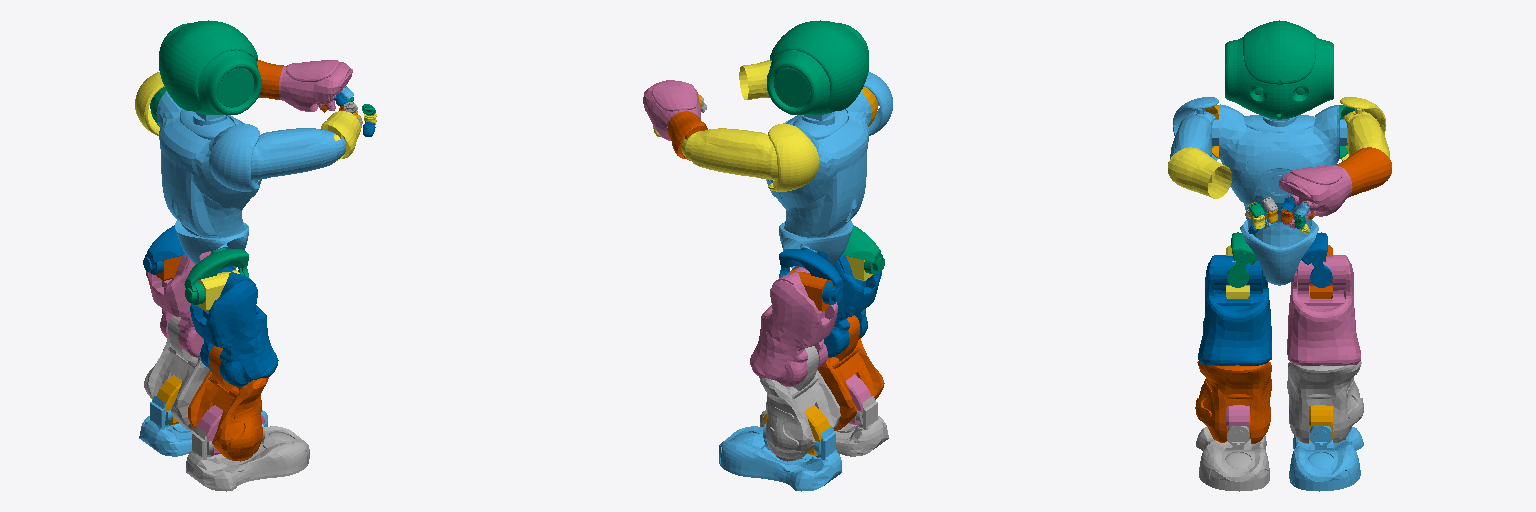
--- Facts derived from the render (not from the file) ---
The picture shows the robot from 3 angles, left to right: view 1: azimuth 30°, elevation 25°; view 2: azimuth 150°, elevation 25°; view 3: azimuth 270°, elevation 25°; orthographic projection.
Robot: naoH25V40 — 76 links, 75 joints (42 revolute, 33 fixed); root link base_link; default pose: joints at zero except 2 at the middle of their limits (LFinger1 = 0.7854, LFinger1_1 = 0.7854, LFinger1_2 = 0.7854, LFinger2 = 0.7854, LFinger2_1 = 0.7854, LFinger2_2 = 0.7854).
Visible links, largest first — view 1: torso, Head, RBicep, RThigh, r_sole, RTibia, l_wrist, LTibia, LThigh, l_sole, RPelvis, LPelvis (+6 smaller); view 2: torso, Head, LBicep, LThigh, l_sole, LTibia, RTibia, RThigh, l_wrist, r_sole, LPelvis, RPelvis (+6 smaller); view 3: torso, Head, LThigh, RThigh, RTibia, LTibia, l_sole, r_sole, l_wrist, RForeArm, LBicep, RBicep (+4 smaller).
Link boxes in pixels (x1,y1,x2,y2): torso: (156,91,261,268); Head: (159,20,261,114); RBicep: (209,124,345,191); RThigh: (190,266,278,386); r_sole: (186,424,309,491); RTibia: (188,346,268,461); l_wrist: (279,60,352,111); LTibia: (144,315,209,430); LThigh: (146,251,210,357); l_sole: (139,396,267,456); RPelvis: (184,248,249,304); LPelvis: (143,225,184,274); torso: (766,91,871,268); Head: (767,20,868,114); LBicep: (681,124,819,191); LThigh: (750,266,837,386); l_sole: (719,424,841,491); LTibia: (759,346,840,461); RTibia: (818,315,884,430); RThigh: (817,251,881,357); l_wrist: (643,80,700,140); r_sole: (760,396,888,456); LPelvis: (779,248,843,304); RPelvis: (843,225,884,274); torso: (1212,104,1347,285); Head: (1225,20,1333,119); LThigh: (1287,255,1360,365); RThigh: (1198,255,1271,365); RTibia: (1195,361,1271,443); LTibia: (1287,361,1363,443); l_sole: (1289,426,1363,491); r_sole: (1196,426,1269,491); l_wrist: (1279,165,1352,216); RForeArm: (1168,147,1231,198); LBicep: (1340,97,1389,160); RBicep: (1170,97,1218,160).
Bounding box of the posed robot: 0.2792 × 0.2719 × 0.5738 m (x, y, z).
38 mesh visuals loaded from 39 distinct referenced files (38 Collada DAE); not drawn: 1 (reference not matched to a file when rendering).

The robot description file, URDF, robot "naoH25V40":
<?xml version="1.0" ?>
<!-- =================================================================================== -->
<!-- |    This document was autogenerated by xacro from naorobot.xacro                 | -->
<!-- |    EDITING THIS FILE BY HAND IS NOT RECOMMENDED                                 | -->
<!-- =================================================================================== -->
<!-- *****************************************************************
 ****** File automatically generated by generate_urdf.py script ******
 ********************************************************************* -->
<robot name="naoH25V40" xmlns:xacro="http://www.ros.org/wiki/xacro">
  <transmission name="HeadYaw_Transmission">
    <type>transmission_interface/SimpleTransmission</type>
    <joint name="HeadYaw">
      <hardwareInterface>PositionJointInterface</hardwareInterface>
      <dynamics damping="0.1" friction="0" />
    </joint>

    <gazebo reference="HeadYaw">
      <implicitSpringDamper>1</implicitSpringDamper>
    </gazebo>

    <actuator name="HeadYaw_Motor">
      <!-- Dummy Values -->
      <hardwareInterface>PositionJointInterface</hardwareInterface>
      <mechanicalReduction>150.27</mechanicalReduction>
    </actuator>
  </transmission>
  <transmission name="HeadPitch_Transmission">
    <type>transmission_interface/SimpleTransmission</type>
    <joint name="HeadPitch">
      <hardwareInterface>PositionJointInterface</hardwareInterface>
      <dynamics damping="0.1" friction="0" />
    </joint>

    <gazebo reference="HeadPitch">
      <implicitSpringDamper>1</implicitSpringDamper>
    </gazebo>

    <actuator name="HeadPitch_Motor">
      <!-- Dummy Values -->
      <hardwareInterface>PositionJointInterface</hardwareInterface>
      <mechanicalReduction>173.22</mechanicalReduction>
    </actuator>
  </transmission>
  <transmission name="LShoulderPitch_Transmission">
    <type>transmission_interface/SimpleTransmission</type>
    <joint name="LShoulderPitch">
      <hardwareInterface>PositionJointInterface</hardwareInterface>
      <dynamics damping="0.1" friction="0" />
    </joint>

    <gazebo reference="LShoulderPitch">
      <implicitSpringDamper>1</implicitSpringDamper>
    </gazebo>

    <actuator name="LShoulderPitch_Motor">
      <hardwareInterface>PositionJointInterface</hardwareInterface>
      <mechanicalReduction>150.27</mechanicalReduction>
    </actuator>
  </transmission>
  <transmission name="LShoulderRoll_Transmission">
    <type>transmission_interface/SimpleTransmission</type>
    <joint name="LShoulderRoll">
      <hardwareInterface>PositionJointInterface</hardwareInterface>
      <dynamics damping="0.1" friction="0" />
    </joint>

    <gazebo reference="LShoulderRoll">
      <implicitSpringDamper>1</implicitSpringDamper>
    </gazebo>

    <actuator name="LShoulderRoll_Motor">
      <hardwareInterface>PositionJointInterface</hardwareInterface>
      <mechanicalReduction>173.22</mechanicalReduction>
    </actuator>
  </transmission>
  <transmission name="LElbowYaw_Transmission">
    <type>transmission_interface/SimpleTransmission</type>
    <joint name="LElbowYaw">
      <hardwareInterface>PositionJointInterface</hardwareInterface>
      <dynamics damping="0.1" friction="0" />
    </joint>

    <gazebo reference="LElbowYaw">
      <implicitSpringDamper>1</implicitSpringDamper>
    </gazebo>

    <actuator name="LElbowYaw_Motor">
      <hardwareInterface>PositionJointInterface</hardwareInterface>
      <mechanicalReduction>150.27</mechanicalReduction>
    </actuator>
  </transmission>
  <transmission name="LElbowRoll_Transmission">
    <type>transmission_interface/SimpleTransmission</type>
    <joint name="LElbowRoll">
      <hardwareInterface>PositionJointInterface</hardwareInterface>
      <dynamics damping="0.1" friction="0" />
    </joint>

    <gazebo reference="LElbowRoll">
      <implicitSpringDamper>1</implicitSpringDamper>
    </gazebo>

    <actuator name="LElbowRoll_Motor">
      <hardwareInterface>PositionJointInterface</hardwareInterface>
      <mechanicalReduction>173.22</mechanicalReduction>
    </actuator>
  </transmission>
  <transmission name="LWristYaw_Transmission">
    <type>transmission_interface/SimpleTransmission</type>
    <joint name="LWristYaw">
      <hardwareInterface>PositionJointInterface</hardwareInterface>
      <dynamics damping="0.1" friction="0" />
    </joint>

    <gazebo reference="LWristYaw">
      <implicitSpringDamper>1</implicitSpringDamper>
    </gazebo>

    <actuator name="LWristYaw_Motor">
      <hardwareInterface>PositionJointInterface</hardwareInterface>
      <mechanicalReduction>50.61</mechanicalReduction>
    </actuator>
  </transmission>
  <transmission name="LHand_Transmission">
    <type>transmission_interface/SimpleTransmission</type>
    <joint name="LHand">
      <hardwareInterface>PositionJointInterface</hardwareInterface>
      <dynamics damping="0.1" friction="0" />
    </joint>

    <gazebo reference="LHand">
      <implicitSpringDamper>1</implicitSpringDamper>
    </gazebo>

    <actuator name="LHand_Motor">
      <hardwareInterface>PositionJointInterface</hardwareInterface>
      <mechanicalReduction>36.24</mechanicalReduction>
    </actuator>
  </transmission>
  <transmission name="RShoulderPitch_Transmission">
    <type>transmission_interface/SimpleTransmission</type>
    <joint name="RShoulderPitch">
      <hardwareInterface>PositionJointInterface</hardwareInterface>
      <dynamics damping="0.1" friction="0" />
    </joint>

    <gazebo reference="RShoulderPitch">
      <implicitSpringDamper>1</implicitSpringDamper>
    </gazebo>

    <actuator name="RShoulderPitch_Motor">
      <hardwareInterface>PositionJointInterface</hardwareInterface>
      <mechanicalReduction>150.27</mechanicalReduction>
    </actuator>
  </transmission>
  <transmission name="RShoulderRoll_Transmission">
    <type>transmission_interface/SimpleTransmission</type>
    <joint name="RShoulderRoll">
      <hardwareInterface>PositionJointInterface</hardwareInterface>
      <dynamics damping="0.1" friction="0" />
    </joint>

    <gazebo reference="RShoulderRoll">
      <implicitSpringDamper>1</implicitSpringDamper>
    </gazebo>

    <actuator name="RShoulderRoll_Motor">
      <hardwareInterface>PositionJointInterface</hardwareInterface>
      <mechanicalReduction>173.22</mechanicalReduction>
    </actuator>
  </transmission>
  <transmission name="RElbowYaw_Transmission">
    <type>transmission_interface/SimpleTransmission</type>
    <joint name="RElbowYaw">
      <hardwareInterface>PositionJointInterface</hardwareInterface>
      <dynamics damping="0.1" friction="0" />
    </joint>

    <gazebo reference="RElbowYaw">
      <implicitSpringDamper>1</implicitSpringDamper>
    </gazebo>

    <actuator name="RElbowYaw_Motor">
      <hardwareInterface>PositionJointInterface</hardwareInterface>
      <mechanicalReduction>150.27</mechanicalReduction>
    </actuator>
  </transmission>
  <transmission name="RElbowRoll_Transmission">
    <type>transmission_interface/SimpleTransmission</type>
    <joint name="RElbowRoll">
      <hardwareInterface>PositionJointInterface</hardwareInterface>
      <dynamics damping="0.1" friction="0" />
    </joint>

    <gazebo reference="RElbowRoll">
      <implicitSpringDamper>1</implicitSpringDamper>
    </gazebo>

    <actuator name="RElbowRoll_Motor">
      <hardwareInterface>PositionJointInterface</hardwareInterface>
      <mechanicalReduction>173.22</mechanicalReduction>
    </actuator>
  </transmission>
  <transmission name="RWristYaw_Transmission">
    <type>transmission_interface/SimpleTransmission</type>
    <joint name="RWristYaw">
      <hardwareInterface>PositionJointInterface</hardwareInterface>
      <dynamics damping="0.1" friction="0" />
    </joint>

    <gazebo reference="RWristYaw">
      <implicitSpringDamper>1</implicitSpringDamper>
    </gazebo>

    <actuator name="RWristYaw_Motor">
      <hardwareInterface>PositionJointInterface</hardwareInterface>
      <mechanicalReduction>50.61</mechanicalReduction>
    </actuator>
  </transmission>
  <transmission name="RHand_Transmission">
    <type>transmission_interface/SimpleTransmission</type>
    <joint name="RHand">
      <hardwareInterface>PositionJointInterface</hardwareInterface>
      <dynamics damping="0.1" friction="0" />
    </joint>

    <gazebo reference="RHand">
      <implicitSpringDamper>1</implicitSpringDamper>
    </gazebo>

    <actuator name="RHand_Motor">
      <hardwareInterface>PositionJointInterface</hardwareInterface>
      <mechanicalReduction>36.24</mechanicalReduction>
    </actuator>
  </transmission>
  <transmission name="LHipYawPitch_Transmission">
    <type>transmission_interface/SimpleTransmission</type>
    <joint name="LHipYawPitch">
      <hardwareInterface>PositionJointInterface</hardwareInterface>
      <dynamics damping="0.1" friction="0" />
    </joint>


    <gazebo reference="LHipYawPitch">
      <implicitSpringDamper>1</implicitSpringDamper>
    </gazebo>

    <actuator name="LHipYawPitch_Motor">
      <!-- Dummy Values -->
      <hardwareInterface>PositionJointInterface</hardwareInterface>
      <mechanicalReduction>201.3</mechanicalReduction>
    </actuator>
  </transmission>
  <transmission name="LHipRoll_Transmission">
    <type>transmission_interface/SimpleTransmission</type>
    <joint name="LHipRoll">
      <hardwareInterface>PositionJointInterface</hardwareInterface>
      <dynamics damping="0.1" friction="0" />
    </joint>

    <gazebo reference="LHipRoll">
      <implicitSpringDamper>1</implicitSpringDamper>
    </gazebo>

    <actuator name="LHipRoll_Motor">
      <!-- Dummy Values -->
      <hardwareInterface>PositionJointInterface</hardwareInterface>
      <mechanicalReduction>201.3</mechanicalReduction>
    </actuator>
  </transmission>
  <transmission name="LHipPitch_Transmission">
    <type>transmission_interface/SimpleTransmission</type>
    <joint name="LHipPitch">
      <hardwareInterface>PositionJointInterface</hardwareInterface>
      <dynamics damping="0.1" friction="0" />
    </joint>

    <gazebo reference="LHipPitch">
      <implicitSpringDamper>1</implicitSpringDamper>
    </gazebo>

    <actuator name="LHipPitch_Motor">
      <!-- Dummy Values -->
      <hardwareInterface>PositionJointInterface</hardwareInterface>
      <mechanicalReduction>130.85</mechanicalReduction>
    </actuator>
  </transmission>
  <transmission name="LKneePitch_Transmission">
    <type>transmission_interface/SimpleTransmission</type>
    <joint name="LKneePitch">
      <hardwareInterface>PositionJointInterface</hardwareInterface>
      <dynamics damping="0.1" friction="0" />
    </joint>

    <gazebo reference="LKneePitch">
      <implicitSpringDamper>1</implicitSpringDamper>
    </gazebo>

    <actuator name="LKneePitch_Motor">
      <!-- Dummy Values -->
      <hardwareInterface>PositionJointInterface</hardwareInterface>
      <mechanicalReduction>130.85</mechanicalReduction>
    </actuator>
  </transmission>
  <transmission name="LAnklePitch_Transmission">
    <type>transmission_interface/SimpleTransmission</type>
    <joint name="LAnklePitch">
      <hardwareInterface>PositionJointInterface</hardwareInterface>
      <dynamics damping="0.1" friction="0" />
    </joint>

    <gazebo reference="LAnklePitch">
      <implicitSpringDamper>1</implicitSpringDamper>
    </gazebo>

    <actuator name="LAnklePitch_Motor">
      <!-- Dummy Values -->
      <hardwareInterface>PositionJointInterface</hardwareInterface>
      <mechanicalReduction>130.85</mechanicalReduction>
    </actuator>
  </transmission>
  <transmission name="LAnkleRoll_Transmission">
    <type>transmission_interface/SimpleTransmission</type>
    <joint name="LAnkleRoll">
      <hardwareInterface>PositionJointInterface</hardwareInterface>
      <dynamics damping="0.1" friction="0" />
    </joint>

    <gazebo reference="LAnkleRoll">
      <implicitSpringDamper>1</implicitSpringDamper>
    </gazebo>

    <actuator name="LAnkleRoll_Motor">
      <!-- Dummy Values -->
      <hardwareInterface>PositionJointInterface</hardwareInterface>
      <mechanicalReduction>201.3</mechanicalReduction>
    </actuator>
  </transmission>
  <transmission name="RHipYawPitch_Transmission">
    <type>transmission_interface/SimpleTransmission</type>
    <joint name="RHipYawPitch">
      <hardwareInterface>PositionJointInterface</hardwareInterface>
      <dynamics damping="0.1" friction="0" />
    </joint>

    <gazebo reference="RHipYawPitch">
      <implicitSpringDamper>1</implicitSpringDamper>
    </gazebo>

    <actuator name="RHipYawPitch_Motor">
      <!-- Dummy Values -->
      <hardwareInterface>PositionJointInterface</hardwareInterface>
      <mechanicalReduction>201.3</mechanicalReduction>
    </actuator>
  </transmission>
  <transmission name="RHipRoll_Transmission">
    <type>transmission_interface/SimpleTransmission</type>
    <joint name="RHipRoll">
      <hardwareInterface>PositionJointInterface</hardwareInterface>
      <dynamics damping="0.1" friction="0" />
    </joint>

    <gazebo reference="RHipRoll">
      <implicitSpringDamper>1</implicitSpringDamper>
    </gazebo>

    <actuator name="RHipRoll_Motor">
      <!-- Dummy Values -->
      <hardwareInterface>PositionJointInterface</hardwareInterface>
      <mechanicalReduction>201.3</mechanicalReduction>
    </actuator>
  </transmission>
  <transmission name="RHipPitch_Transmission">
    <type>transmission_interface/SimpleTransmission</type>
    <joint name="RHipPitch">
      <hardwareInterface>PositionJointInterface</hardwareInterface>
      <dynamics damping="0.1" friction="0" />
    </joint>

    <gazebo reference="RHipPitch">
      <implicitSpringDamper>1</implicitSpringDamper>
    </gazebo>

    <actuator name="RHipPitch_Motor">
      <!-- Dummy Values -->
      <hardwareInterface>PositionJointInterface</hardwareInterface>
      <mechanicalReduction>130.85</mechanicalReduction>
    </actuator>
  </transmission>
  <transmission name="RKneePitch_Transmission">
    <type>transmission_interface/SimpleTransmission</type>
    <joint name="RKneePitch">
      <hardwareInterface>PositionJointInterface</hardwareInterface>
      <dynamics damping="0.1" friction="0" />
    </joint>

    <gazebo reference="RKneePitch">
      <implicitSpringDamper>1</implicitSpringDamper>
    </gazebo>

    <actuator name="RKneePitch_Motor">
      <!-- Dummy Values -->
      <hardwareInterface>PositionJointInterface</hardwareInterface>
      <mechanicalReduction>130.85</mechanicalReduction>
    </actuator>
  </transmission>
  <transmission name="RAnklePitch_Transmission">
    <type>transmission_interface/SimpleTransmission</type>
    <joint name="RAnklePitch">
      <hardwareInterface>PositionJointInterface</hardwareInterface>
      <dynamics damping="0.1" friction="0" />
    </joint>

    <gazebo reference="RAnklePitch">
      <implicitSpringDamper>1</implicitSpringDamper>
    </gazebo>

    <actuator name="RAnklePitch_Motor">
      <!-- Dummy Values -->
      <hardwareInterface>PositionJointInterface</hardwareInterface>
      <mechanicalReduction>130.85</mechanicalReduction>
    </actuator>
  </transmission>
  <transmission name="RAnkleRoll_Transmission">
    <type>transmission_interface/SimpleTransmission</type>
    <joint name="RAnkleRoll">
      <hardwareInterface>PositionJointInterface</hardwareInterface>
      <dynamics damping="0.1" friction="0" />
    </joint>

    <gazebo reference="RAnkleRoll">
      <implicitSpringDamper>1</implicitSpringDamper>
    </gazebo>

    <actuator name="RAnkleRoll_Motor">
      <!-- Dummy Values -->
      <hardwareInterface>PositionJointInterface</hardwareInterface>
      <mechanicalReduction>201.3</mechanicalReduction>
    </actuator>
  </transmission>
  <!--<gazebo>
    <plugin filename="libgazebo_ros_control.so" name="gazebo_ros_control">
      <robotNamespace>/nao_dcm</robotNamespace>
      <robotSimType>gazebo_ros_control/DefaultRobotHWSim</robotSimType>
    </plugin>
    <plugin filename="libgazebo_ros_imu.so" name="gazebo_ros_imu_controller">
      <robotNamespace>/nao_dcm</robotNamespace>
      <topicName>imu_data</topicName>
      <bodyName>imu</bodyName>
      <frameId>imu</frameId>
      <gaussianNoise>2.89e-08</gaussianNoise>
      <accelGaussianNoise>2.89e-08 2.89e-08 2.89e-08</accelGaussianNoise>
      <rateGaussianNoise>2.89e-08 2.89e-08 2.89e-08</rateGaussianNoise>
      <headingGaussianNoise>2.89e-08 2.89e-08 2.89e-08</headingGaussianNoise>
      <xyzOffsets>0 0 0</xyzOffsets>
      <rpyOffsets>0 0 0</rpyOffsets>
      <updateRate>30.0</updateRate>
      <alwaysOn>true</alwaysOn>
    </plugin>-->
    <!--        <plugin name="gazebo_ros_imu_controller" filename="${imu_plugin}">
            <robotNamespace>/nao_dcm</robotNamespace>
            <topicName>imu_data</topicName>
            <bodyName>imu</bodyName>
            <frameId>imu</frameId>
            <gaussianNoise>2.89e-08</gaussianNoise>
            <accelGaussianNoise>2.89e-08 2.89e-08 2.89e-08</accelGaussianNoise>
            <rateGaussianNoise>2.89e-08 2.89e-08 2.89e-08</rateGaussianNoise>
            <headingGaussianNoise>2.89e-08 2.89e-08 2.89e-08</headingGaussianNoise>
            <xyzOffsets>0 0 0</xyzOffsets>
            <rpyOffsets>0 0 0</rpyOffsets>
            <updateRate>30.0</updateRate>
            <alwaysOn>true</alwaysOn>
        </plugin>
-->
    <!-- Mimic joints through plugin develop by costashatz based on implementation by Goncalo Cabrita -->
    <!--<plugin filename="libroboticsgroup_gazebo_mimic_joint_plugin.so" name="mimic_hipyawpitch">
      <joint>LHipYawPitch</joint>
      <mimicJoint>RHipYawPitch</mimicJoint>
      <multiplier>1.0</multiplier>
      <offset>0.0</offset>
    </plugin>
    <plugin filename="libroboticsgroup_gazebo_mimic_joint_plugin.so" name="mimic_LFinger1">
      <joint>LHand</joint>
      <mimicJoint>LFinger1</mimicJoint>
      <multiplier>-0.785398163398</multiplier>
      <offset>0.785398163398</offset>
    </plugin>
    <plugin filename="libroboticsgroup_gazebo_mimic_joint_plugin.so" name="mimic_LFinger1_1">
      <joint>LHand</joint>
      <mimicJoint>LFinger1_1</mimicJoint>
      <multiplier>-0.785398163398</multiplier>
      <offset>0.785398163398</offset>
    </plugin>
    <plugin filename="libroboticsgroup_gazebo_mimic_joint_plugin.so" name="mimic_LFinger1_2">
      <joint>LHand</joint>
      <mimicJoint>LFinger1_2</mimicJoint>
      <multiplier>-0.785398163398</multiplier>
      <offset>0.785398163398</offset>
    </plugin>
    <plugin filename="libroboticsgroup_gazebo_mimic_joint_plugin.so" name="mimic_LFinger2">
      <joint>LHand</joint>
      <mimicJoint>LFinger2</mimicJoint>
      <multiplier>-0.785398163398</multiplier>
      <offset>0.785398163398</offset>
    </plugin>
    <plugin filename="libroboticsgroup_gazebo_mimic_joint_plugin.so" name="mimic_LFinger2_1">
      <joint>LHand</joint>
      <mimicJoint>LFinger2_1</mimicJoint>
      <multiplier>-0.785398163398</multiplier>
      <offset>0.785398163398</offset>
    </plugin>
    <plugin filename="libroboticsgroup_gazebo_mimic_joint_plugin.so" name="mimic_LFinger2_2">
      <joint>LHand</joint>
      <mimicJoint>LFinger2_2</mimicJoint>
      <multiplier>-0.785398163398</multiplier>
      <offset>0.785398163398</offset>
    </plugin>
    <plugin filename="libroboticsgroup_gazebo_mimic_joint_plugin.so" name="mimic_RFinger1">
      <joint>RHand</joint>
      <mimicJoint>RFinger1</mimicJoint>
      <multiplier>-0.785398163398</multiplier>
      <offset>0.785398163398</offset>
    </plugin>
    <plugin filename="libroboticsgroup_gazebo_mimic_joint_plugin.so" name="mimic_RFinger1_1">
      <joint>RHand</joint>
      <mimicJoint>RFinger1_1</mimicJoint>
      <multiplier>-0.785398163398</multiplier>
      <offset>0.785398163398</offset>
    </plugin>
    <plugin filename="libroboticsgroup_gazebo_mimic_joint_plugin.so" name="mimic_RFinger1_2">
      <joint>RHand</joint>
      <mimicJoint>RFinger1_2</mimicJoint>
      <multiplier>-0.785398163398</multiplier>
      <offset>0.785398163398</offset>
    </plugin>
    <plugin filename="libroboticsgroup_gazebo_mimic_joint_plugin.so" name="mimic_RFinger2">
      <joint>RHand</joint>
      <mimicJoint>RFinger2</mimicJoint>
      <multiplier>-0.785398163398</multiplier>
      <offset>0.785398163398</offset>
    </plugin>
    <plugin filename="libroboticsgroup_gazebo_mimic_joint_plugin.so" name="mimic_RFinger2_1">
      <joint>RHand</joint>
      <mimicJoint>RFinger2_1</mimicJoint>
      <multiplier>-0.785398163398</multiplier>
      <offset>0.785398163398</offset>
    </plugin>
    <plugin filename="libroboticsgroup_gazebo_mimic_joint_plugin.so" name="mimic_RFinger2_2">
      <joint>RHand</joint>
      <mimicJoint>RFinger2_2</mimicJoint>
      <multiplier>-0.785398163398</multiplier>
      <offset>0.785398163398</offset>
    </plugin>
    <plugin filename="libroboticsgroup_gazebo_mimic_joint_plugin.so" name="LThumb1_joint">
      <joint>LHand</joint>
      <mimicJoint>LThumb1_joint</mimicJoint>
      <multiplier>-0.785398163398</multiplier>
      <offset>0.785398163398</offset>
    </plugin>
    <plugin filename="libroboticsgroup_gazebo_mimic_joint_plugin.so" name="LThumb1_2">
      <joint>LHand</joint>
      <mimicJoint>LThumb1_2</mimicJoint>
      <multiplier>-0.785398163398</multiplier>
      <offset>0.785398163398</offset>
    </plugin>
    <plugin filename="libroboticsgroup_gazebo_mimic_joint_plugin.so" name="RThumb1_joint">
      <joint>RHand</joint>
      <mimicJoint>RThumb1_joint</mimicJoint>
      <multiplier>-0.785398163398</multiplier>
      <offset>0.785398163398</offset>
    </plugin>
    <plugin filename="libroboticsgroup_gazebo_mimic_joint_plugin.so" name="RThumb1_2">
      <joint>RHand</joint>
      <mimicJoint>RThumb1_2</mimicJoint>
      <multiplier>-0.785398163398</multiplier>
      <offset>0.785398163398</offset>
    </plugin>
    <plugin filename="libroboticsgroup_gazebo_disable_link_plugin.so" name="LFinger11">
      <link>LFinger11</link>
    </plugin>
    <plugin filename="libroboticsgroup_gazebo_disable_link_plugin.so" name="LFinger12">
      <link>LFinger12</link>
    </plugin>
    <plugin filename="libroboticsgroup_gazebo_disable_link_plugin.so" name="LFinger13">
      <link>LFinger13</link>
    </plugin>
    <plugin filename="libroboticsgroup_gazebo_disable_link_plugin.so" name="LFinger21">
      <link>LFinger21</link>
    </plugin>
    <plugin filename="libroboticsgroup_gazebo_disable_link_plugin.so" name="LFinger22">
      <link>LFinger22</link>
    </plugin>
    <plugin filename="libroboticsgroup_gazebo_disable_link_plugin.so" name="LFinger23">
      <link>LFinger23</link>
    </plugin>
    <plugin filename="libroboticsgroup_gazebo_disable_link_plugin.so" name="LThumb1">
      <link>LThumb1</link>
    </plugin>
    <plugin filename="libroboticsgroup_gazebo_disable_link_plugin.so" name="LThumb2">
      <link>LThumb2</link>
    </plugin>
    <plugin filename="libroboticsgroup_gazebo_disable_link_plugin.so" name="l_gripper">
      <link>l_gripper</link>
    </plugin>
    <plugin filename="libroboticsgroup_gazebo_disable_link_plugin.so" name="RFinger11">
      <link>RFinger11</link>
    </plugin>
    <plugin filename="libroboticsgroup_gazebo_disable_link_plugin.so" name="RFinger12">
      <link>RFinger12</link>
    </plugin>
    <plugin filename="libroboticsgroup_gazebo_disable_link_plugin.so" name="RFinger13">
      <link>RFinger13</link>
    </plugin>
    <plugin filename="libroboticsgroup_gazebo_disable_link_plugin.so" name="RFinger21">
      <link>RFinger21</link>
    </plugin>
    <plugin filename="libroboticsgroup_gazebo_disable_link_plugin.so" name="RFinger22">
      <link>RFinger22</link>
    </plugin>
    <plugin filename="libroboticsgroup_gazebo_disable_link_plugin.so" name="RFinger23">
      <link>RFinger23</link>
    </plugin>
    <plugin filename="libroboticsgroup_gazebo_disable_link_plugin.so" name="RThumb1">
      <link>RThumb1</link>
    </plugin>
    <plugin filename="libroboticsgroup_gazebo_disable_link_plugin.so" name="RThumb2">
      <link>RThumb2</link>
    </plugin>
    <plugin filename="libroboticsgroup_gazebo_disable_link_plugin.so" name="r_gripper">
      <link>r_gripper</link>
    </plugin>
  </gazebo>-->
  <gazebo reference="torso">
    <mu1>0.5</mu1>
    <mu2>0.5</mu2>
    <selfCollide>false</selfCollide>
    <turnGravityOff>false</turnGravityOff>
  </gazebo>
  <gazebo reference="Neck">
    <mu1>0.5</mu1>
    <mu2>0.5</mu2>
    <selfCollide>false</selfCollide>
    <turnGravityOff>false</turnGravityOff>
  </gazebo>
  <gazebo reference="Head">
    <mu1>0.5</mu1>
    <mu2>0.5</mu2>
    <selfCollide>false</selfCollide>
    <turnGravityOff>false</turnGravityOff>
  </gazebo>
  <gazebo reference="gaze">
    <mu1>0.5</mu1>
    <mu2>0.5</mu2>
    <selfCollide>false</selfCollide>
    <turnGravityOff>false</turnGravityOff>
  </gazebo>
  <gazebo reference="LShoulder">
    <mu1>0.5</mu1>
    <mu2>0.5</mu2>
    <selfCollide>false</selfCollide>
    <turnGravityOff>false</turnGravityOff>
  </gazebo>
  <gazebo reference="LBicep">
    <mu1>0.5</mu1>
    <mu2>0.5</mu2>
    <selfCollide>false</selfCollide>
    <turnGravityOff>false</turnGravityOff>
  </gazebo>
  <gazebo reference="LElbow">
    <mu1>0.5</mu1>
    <mu2>0.5</mu2>
    <selfCollide>false</selfCollide>
    <turnGravityOff>false</turnGravityOff>
  </gazebo>
  <gazebo reference="LForeArm">
    <mu1>0.5</mu1>
    <mu2>0.5</mu2>
    <selfCollide>false</selfCollide>
    <turnGravityOff>false</turnGravityOff>
  </gazebo>
  <gazebo reference="l_wrist">
    <mu1>0.5</mu1>
    <mu2>0.5</mu2>
    <selfCollide>false</selfCollide>
    <turnGravityOff>false</turnGravityOff>
  </gazebo>
  <gazebo reference="l_gripper">
    <mu1>0.5</mu1>
    <mu2>0.5</mu2>
    <selfCollide>false</selfCollide>
    <turnGravityOff>true</turnGravityOff>
  </gazebo>
  <gazebo reference="RShoulder">
    <mu1>0.5</mu1>
    <mu2>0.5</mu2>
    <selfCollide>false</selfCollide>
    <turnGravityOff>false</turnGravityOff>
  </gazebo>
  <gazebo reference="RBicep">
    <mu1>0.5</mu1>
    <mu2>0.5</mu2>
    <selfCollide>false</selfCollide>
    <turnGravityOff>false</turnGravityOff>
  </gazebo>
  <gazebo reference="RElbow">
    <mu1>0.5</mu1>
    <mu2>0.5</mu2>
    <selfCollide>false</selfCollide>
    <turnGravityOff>false</turnGravityOff>
  </gazebo>
  <gazebo reference="RForeArm">
    <mu1>0.5</mu1>
    <mu2>0.5</mu2>
    <selfCollide>false</selfCollide>
    <turnGravityOff>false</turnGravityOff>
  </gazebo>
  <gazebo reference="r_wrist">
    <mu1>0.5</mu1>
    <mu2>0.5</mu2>
    <selfCollide>false</selfCollide>
    <turnGravityOff>false</turnGravityOff>
  </gazebo>
  <gazebo reference="r_gripper">
    <mu1>0.5</mu1>
    <mu2>0.5</mu2>
    <selfCollide>false</selfCollide>
    <turnGravityOff>true</turnGravityOff>
  </gazebo>
  <gazebo reference="LFinger11">
    <mu1>0.5</mu1>
    <mu2>0.5</mu2>
    <selfCollide>false</selfCollide>
    <turnGravityOff>true</turnGravityOff>
  </gazebo>
  <gazebo reference="LFinger12">
    <mu1>0.5</mu1>
    <mu2>0.5</mu2>
    <selfCollide>false</selfCollide>
    <turnGravityOff>true</turnGravityOff>
  </gazebo>
  <gazebo reference="LFinger13">
    <mu1>0.5</mu1>
    <mu2>0.5</mu2>
    <selfCollide>false</selfCollide>
    <turnGravityOff>true</turnGravityOff>
  </gazebo>
  <gazebo reference="LFinger21">
    <mu1>0.5</mu1>
    <mu2>0.5</mu2>
    <selfCollide>false</selfCollide>
    <turnGravityOff>true</turnGravityOff>
  </gazebo>
  <gazebo reference="LFinger22">
    <mu1>0.5</mu1>
    <mu2>0.5</mu2>
    <selfCollide>false</selfCollide>
    <turnGravityOff>true</turnGravityOff>
  </gazebo>
  <gazebo reference="LFinger23">
    <mu1>0.5</mu1>
    <mu2>0.5</mu2>
    <selfCollide>false</selfCollide>
    <turnGravityOff>true</turnGravityOff>
  </gazebo>
  <gazebo reference="LThumb1">
    <mu1>0.5</mu1>
    <mu2>0.5</mu2>
    <selfCollide>false</selfCollide>
    <turnGravityOff>true</turnGravityOff>
  </gazebo>
  <gazebo reference="LThumb2">
    <mu1>0.5</mu1>
    <mu2>0.5</mu2>
    <selfCollide>false</selfCollide>
    <turnGravityOff>true</turnGravityOff>
  </gazebo>
  <gazebo reference="LPelvis">
    <mu1>0.5</mu1>
    <mu2>0.5</mu2>
    <selfCollide>false</selfCollide>
    <turnGravityOff>false</turnGravityOff>
  </gazebo>
  <gazebo reference="LHip">
    <mu1>0.5</mu1>
    <mu2>0.5</mu2>
    <selfCollide>false</selfCollide>
    <turnGravityOff>false</turnGravityOff>
  </gazebo>
  <gazebo reference="LThigh">
    <mu1>0.5</mu1>
    <mu2>0.5</mu2>
    <selfCollide>false</selfCollide>
    <turnGravityOff>false</turnGravityOff>
  </gazebo>
  <gazebo reference="LTibia">
    <mu1>0.5</mu1>
    <mu2>0.5</mu2>
    <selfCollide>false</selfCollide>
    <turnGravityOff>false</turnGravityOff>
  </gazebo>
  <gazebo reference="l_ankle">
    <mu1>0.5</mu1>
    <mu2>0.5</mu2>
    <selfCollide>false</selfCollide>
    <turnGravityOff>false</turnGravityOff>
  </gazebo>
  <gazebo reference="l_sole">
    <mu1>0.5</mu1>
    <mu2>0.5</mu2>
    <selfCollide>false</selfCollide>
    <turnGravityOff>false</turnGravityOff>
    <fdir1>1 0 0</fdir1>
    <maxVel>0.1</maxVel>
    <minDepth>0.003</minDepth>
  </gazebo>
  <gazebo reference="RPelvis">
    <mu1>0.5</mu1>
    <mu2>0.5</mu2>
    <selfCollide>false</selfCollide>
    <turnGravityOff>false</turnGravityOff>
  </gazebo>
  <gazebo reference="RHip">
    <mu1>0.5</mu1>
    <mu2>0.5</mu2>
    <selfCollide>false</selfCollide>
    <turnGravityOff>false</turnGravityOff>
  </gazebo>
  <gazebo reference="RThigh">
    <mu1>0.5</mu1>
    <mu2>0.5</mu2>
    <selfCollide>false</selfCollide>
    <turnGravityOff>false</turnGravityOff>
  </gazebo>
  <gazebo reference="RTibia">
    <mu1>0.5</mu1>
    <mu2>0.5</mu2>
    <selfCollide>false</selfCollide>
    <turnGravityOff>false</turnGravityOff>
  </gazebo>
  <gazebo reference="r_ankle">
    <mu1>0.5</mu1>
    <mu2>0.5</mu2>
    <selfCollide>false</selfCollide>
    <turnGravityOff>false</turnGravityOff>
  </gazebo>
  <gazebo reference="r_sole">
    <mu1>0.5</mu1>
    <mu2>0.5</mu2>
    <selfCollide>false</selfCollide>
    <turnGravityOff>false</turnGravityOff>
    <fdir1>1 0 0</fdir1>
    <maxVel>0.1</maxVel>
    <minDepth>0.003</minDepth>
  </gazebo>
  <gazebo reference="RFinger11">
    <mu1>0.5</mu1>
    <mu2>0.5</mu2>
    <selfCollide>false</selfCollide>
    <turnGravityOff>true</turnGravityOff>
  </gazebo>
  <gazebo reference="RFinger12">
    <mu1>0.5</mu1>
    <mu2>0.5</mu2>
    <selfCollide>false</selfCollide>
    <turnGravityOff>true</turnGravityOff>
  </gazebo>
  <gazebo reference="RFinger13">
    <mu1>0.5</mu1>
    <mu2>0.5</mu2>
    <selfCollide>false</selfCollide>
    <turnGravityOff>true</turnGravityOff>
  </gazebo>
  <gazebo reference="RFinger21">
    <mu1>0.5</mu1>
    <mu2>0.5</mu2>
    <selfCollide>false</selfCollide>
    <turnGravityOff>true</turnGravityOff>
  </gazebo>
  <gazebo reference="RFinger22">
    <mu1>0.5</mu1>
    <mu2>0.5</mu2>
    <selfCollide>false</selfCollide>
    <turnGravityOff>true</turnGravityOff>
  </gazebo>
  <gazebo reference="RFinger23">
    <mu1>0.5</mu1>
    <mu2>0.5</mu2>
    <selfCollide>false</selfCollide>
    <turnGravityOff>true</turnGravityOff>
  </gazebo>
  <gazebo reference="RThumb1">
    <mu1>0.5</mu1>
    <mu2>0.5</mu2>
    <selfCollide>false</selfCollide>
    <turnGravityOff>true</turnGravityOff>
  </gazebo>
  <gazebo reference="RThumb2">
    <mu1>0.5</mu1>
    <mu2>0.5</mu2>
    <selfCollide>false</selfCollide>
    <turnGravityOff>true</turnGravityOff>
  </gazebo>
  <joint name="torso-imu" type="fixed">
    <parent link="torso"/>
    <child link="imu"/>
    <!-- Accelerometer -->
    <origin rpy="0 0 0" xyz="-0.008 0.00606 0.027"/>
    <!-- Gyrometer -->
    <!-- <origin xyz="-0.008 0.006 0.029" rpy="0 0 0"/> -->
  </joint>
  <link name="imu"/>
  <joint name="LFinger1" type="revolute">
    <parent link="l_wrist"/>
    <child link="LFinger11"/>
    <origin rpy="0 0 0" xyz="0.06907 0.01157 -0.00304"/>
    <axis xyz="0 1 0"/>
    <mimic joint="LHand" multiplier="-0.785398163398" offset="0.785398163398"/>
    <limit effort="10.0" lower="0.0" upper="0.785398163398" velocity="3.0"/>
    <dynamics damping="0.1" friction="0" />
  </joint>

  <gazebo reference="LFinger1">
    <implicitSpringDamper>1</implicitSpringDamper>
  </gazebo>

  <link name="LFinger11">
    <visual>
      <origin rpy="0 -0 0" xyz="0 0 0"/>
      <geometry>
        <mesh filename="package://nao_meshes/meshes/V40/visual/LFinger11.dae" scale="0.1 0.1 0.1"/>
      </geometry>
    </visual>
    <collision>
      <origin rpy="0 -0 0" xyz="0 0 0"/>
      <geometry>
        <mesh filename="package://nao_meshes/meshes/V40/collision/LFinger11.stl" scale="0.1 0.1 0.1"/>
      </geometry>
    </collision>
    <inertial>
      <mass value="0.2e-5"/>
      <origin xyz="0 0 0"/>
      <inertia ixx="1e-9" ixy="0" ixz="0" iyy="1e-9" iyz="0" izz="1e-9"/>
    </inertial>
  </link>
  <joint name="LFinger1_1" type="revolute">
    <parent link="LFinger11"/>
    <child link="LFinger12"/>
    <origin rpy="0 0 0" xyz="0.01436 0 0"/>
    <axis xyz="0 1 0"/>
    <mimic joint="LHand" multiplier="-0.785398163398" offset="0.785398163398"/>
    <limit effort="10.0" lower="0.0" upper="0.785398163398" velocity="3.0"/>
    <dynamics damping="0.1" friction="0" />
  </joint>

  <gazebo reference="LFinger1_1">
    <implicitSpringDamper>1</implicitSpringDamper>
  </gazebo>

  <link name="LFinger12">
    <visual>
      <origin rpy="0 -0 0" xyz="0 0 0"/>
      <geometry>
        <mesh filename="package://nao_meshes/meshes/V40/visual/LFinger12.dae" scale="0.1 0.1 0.1"/>
      </geometry>
    </visual>
    <collision>
      <origin rpy="0 -0 0" xyz="0 0 0"/>
      <geometry>
        <mesh filename="package://nao_meshes/meshes/V40/collision/LFinger12.stl" scale="0.1 0.1 0.1"/>
      </geometry>
    </collision>
    <inertial>
      <mass value="0.2e-5"/>
      <origin xyz="0 0 0"/>
      <inertia ixx="1e-9" ixy="0" ixz="0" iyy="1e-9" iyz="0" izz="1e-9"/>
    </inertial>
  </link>
  <joint name="LFinger1_2" type="revolute">
    <parent link="LFinger12"/>
    <child link="LFinger13"/>
    <origin rpy="0 0 0" xyz="0.01436 0 0"/>
    <axis xyz="0 1 0"/>
    <mimic joint="LHand" multiplier="-0.785398163398" offset="0.785398163398"/>
    <limit effort="10.0" lower="0.0" upper="0.785398163398" velocity="3.0"/>
    <dynamics damping="0.1" friction="0" />
  </joint>

  <gazebo reference="LFinger1_2">
    <implicitSpringDamper>1</implicitSpringDamper>
  </gazebo>

  <link name="LFinger13">
    <visual>
      <origin rpy="0 -0 0" xyz="0 0 0"/>
      <geometry>
        <mesh filename="package://nao_meshes/meshes/V40/visual/LFinger13.dae" scale="0.1 0.1 0.1"/>
      </geometry>
    </visual>
    <collision>
      <origin rpy="0 -0 0" xyz="0 0 0"/>
      <geometry>
        <mesh filename="package://nao_meshes/meshes/V40/collision/LFinger13.stl" scale="0.1 0.1 0.1"/>
      </geometry>
    </collision>
    <inertial>
      <mass value="0.2e-5"/>
      <origin xyz="0 0 0"/>
      <inertia ixx="1e-9" ixy="0" ixz="0" iyy="1e-9" iyz="0" izz="1e-9"/>
    </inertial>
  </link>
  <joint name="LFinger2" type="revolute">
    <parent link="l_wrist"/>
    <child link="LFinger21"/>
    <origin rpy="0 0 0" xyz="0.06907 -0.01157 -0.00304"/>
    <axis xyz="0 1 0"/>
    <mimic joint="LHand" multiplier="-0.785398163398" offset="0.785398163398"/>
    <limit effort="10.0" lower="0.0" upper="0.785398163398" velocity="3.0"/>
    <dynamics damping="0.1" friction="0" />
  </joint>

  <gazebo reference="LFinger2">
    <implicitSpringDamper>1</implicitSpringDamper>
  </gazebo>

  <link name="LFinger21">
    <visual>
      <origin rpy="0 -0 0" xyz="0 0 0"/>
      <geometry>
        <mesh filename="package://nao_meshes/meshes/V40/visual/LFinger21.dae" scale="0.1 0.1 0.1"/>
      </geometry>
    </visual>
    <collision>
      <origin rpy="0 -0 0" xyz="0 0 0"/>
      <geometry>
        <mesh filename="package://nao_meshes/meshes/V40/collision/LFinger21.stl" scale="0.1 0.1 0.1"/>
      </geometry>
    </collision>
    <inertial>
      <mass value="0.2e-5"/>
      <origin xyz="0 0 0"/>
      <inertia ixx="1e-9" ixy="0" ixz="0" iyy="1e-9" iyz="0" izz="1e-9"/>
    </inertial>
  </link>
  <joint name="LFinger2_1" type="revolute">
    <parent link="LFinger21"/>
    <child link="LFinger22"/>
    <origin rpy="0 0 0" xyz="0.01436 0 0"/>
    <axis xyz="0 1 0"/>
    <mimic joint="LHand" multiplier="-0.785398163398" offset="0.785398163398"/>
    <limit effort="10.0" lower="0.0" upper="0.785398163398" velocity="3.0"/>
    <dynamics damping="0.1" friction="0" />
  </joint>

  <gazebo reference="LFinger2_1">
    <implicitSpringDamper>1</implicitSpringDamper>
  </gazebo>

  <link name="LFinger22">
    <visual>
      <origin rpy="0 -0 0" xyz="0 0 0"/>
      <geometry>
        <mesh filename="package://nao_meshes/meshes/V40/visual/LFinger22.dae" scale="0.1 0.1 0.1"/>
      </geometry>
    </visual>
    <collision>
      <origin rpy="0 -0 0" xyz="0 0 0"/>
      <geometry>
        <mesh filename="package://nao_meshes/meshes/V40/collision/LFinger22.stl" scale="0.1 0.1 0.1"/>
      </geometry>
    </collision>
    <inertial>
      <mass value="0.2e-5"/>
      <origin xyz="0 0 0"/>
      <inertia ixx="1e-9" ixy="0" ixz="0" iyy="1e-9" iyz="0" izz="1e-9"/>
    </inertial>
  </link>
  <joint name="LFinger2_2" type="revolute">
    <parent link="LFinger22"/>
    <child link="LFinger23"/>
    <origin rpy="0 0 0" xyz="0.01436 0 0"/>
    <axis xyz="0 1 0"/>
    <mimic joint="LHand" multiplier="-0.785398163398" offset="0.785398163398"/>
    <limit effort="10.0" lower="0.0" upper="0.785398163398" velocity="3.0"/>
    <dynamics damping="0.1" friction="0" />
  </joint>

  <gazebo reference="LFinger2_2">
    <implicitSpringDamper>1</implicitSpringDamper>
  </gazebo>

  <link name="LFinger23">
    <visual>
      <origin rpy="0 -0 0" xyz="0 0 0"/>
      <geometry>
        <mesh filename="package://nao_meshes/meshes/V40/visual/LFinger23.dae" scale="0.1 0.1 0.1"/>
      </geometry>
    </visual>
    <collision>
      <origin rpy="0 -0 0" xyz="0 0 0"/>
      <geometry>
        <mesh filename="package://nao_meshes/meshes/V40/collision/LFinger23.stl" scale="0.1 0.1 0.1"/>
      </geometry>
    </collision>
    <inertial>
      <mass value="0.2e-5"/>
      <origin xyz="0 0 0"/>
      <inertia ixx="1e-9" ixy="0" ixz="0" iyy="1e-9" iyz="0" izz="1e-9"/>
    </inertial>
  </link>
  <joint name="RFinger1" type="revolute">
    <parent link="r_wrist"/>
    <child link="RFinger11"/>
    <origin rpy="0 0 0" xyz="0.06907 0.01157 -0.00304"/>
    <axis xyz="0 1 0"/>
    <mimic joint="RHand" multiplier="-0.785398163398" offset="0.785398163398"/>
    <limit effort="10.0" lower="0.0" upper="0.785398163398" velocity="3.0"/>
    <dynamics damping="0.1" friction="0" />
  </joint>

  <gazebo reference="RFinger1">
    <implicitSpringDamper>1</implicitSpringDamper>
  </gazebo>

  <link name="RFinger11">
    <visual>
      <origin rpy="0 -0 0" xyz="0 0 0"/>
      <geometry>
        <mesh filename="package://nao_meshes/meshes/V40/visual/RFinger11.dae" scale="0.1 0.1 0.1"/>
      </geometry>
    </visual>
    <collision>
      <origin rpy="0 -0 0" xyz="0 0 0"/>
      <geometry>
        <mesh filename="package://nao_meshes/meshes/V40/collision/RFinger11.stl" scale="0.1 0.1 0.1"/>
      </geometry>
    </collision>
    <inertial>
      <mass value="0.2e-5"/>
      <origin xyz="0 0 0"/>
      <inertia ixx="1e-9" ixy="0" ixz="0" iyy="1e-9" iyz="0" izz="1e-9"/>
    </inertial>
  </link>
  <joint name="RFinger1_1" type="revolute">
    <parent link="RFinger11"/>
    <child link="RFinger12"/>
    <origin rpy="0 0 0" xyz="0.01436 0 0"/>
    <axis xyz="0 1 0"/>
    <mimic joint="RHand" multiplier="-0.785398163398" offset="0.785398163398"/>
    <limit effort="10.0" lower="0.0" upper="0.785398163398" velocity="3.0"/>
    <dynamics damping="0.1" friction="0" />
  </joint>

  <gazebo reference="RFinger1_1">
    <implicitSpringDamper>1</implicitSpringDamper>
  </gazebo>

  <link name="RFinger12">
    <visual>
      <origin rpy="0 -0 0" xyz="0 0 0"/>
      <geometry>
        <mesh filename="package://nao_meshes/meshes/V40/visual/RFinger12.dae" scale="0.1 0.1 0.1"/>
      </geometry>
    </visual>
    <collision>
      <origin rpy="0 -0 0" xyz="0 0 0"/>
      <geometry>
        <mesh filename="package://nao_meshes/meshes/V40/collision/RFinger12.stl" scale="0.1 0.1 0.1"/>
      </geometry>
    </collision>
    <inertial>
      <mass value="0.2e-5"/>
      <origin xyz="0 0 0"/>
      <inertia ixx="1e-9" ixy="0" ixz="0" iyy="1e-9" iyz="0" izz="1e-9"/>
    </inertial>
  </link>
  <joint name="RFinger1_2" type="revolute">
    <parent link="RFinger12"/>
    <child link="RFinger13"/>
    <origin rpy="0 0 0" xyz="0.01436 0 0"/>
    <axis xyz="0 1 0"/>
    <mimic joint="RHand" multiplier="-0.785398163398" offset="0.785398163398"/>
    <limit effort="10.0" lower="0.0" upper="0.785398163398" velocity="3.0"/>
    <dynamics damping="0.1" friction="0" />
  </joint>

  <gazebo reference="RFinger1_2">
    <implicitSpringDamper>1</implicitSpringDamper>
  </gazebo>

  <link name="RFinger13">
    <visual>
      <origin rpy="0 -0 0" xyz="0 0 0"/>
      <geometry>
        <mesh filename="package://nao_meshes/meshes/V40/visual/RFinger13.dae" scale="0.1 0.1 0.1"/>
      </geometry>
    </visual>
    <collision>
      <origin rpy="0 -0 0" xyz="0 0 0"/>
      <geometry>
        <mesh filename="package://nao_meshes/meshes/V40/collision/RFinger13.stl" scale="0.1 0.1 0.1"/>
      </geometry>
    </collision>
    <inertial>
      <mass value="0.2e-5"/>
      <origin xyz="0 0 0"/>
      <inertia ixx="1e-9" ixy="0" ixz="0" iyy="1e-9" iyz="0" izz="1e-9"/>
    </inertial>
  </link>
  <joint name="RFinger2" type="revolute">
    <parent link="r_wrist"/>
    <child link="RFinger21"/>
    <origin rpy="0 0 0" xyz="0.06907 -0.01157 -0.00304"/>
    <axis xyz="0 1 0"/>
    <mimic joint="RHand" multiplier="-0.785398163398" offset="0.785398163398"/>
    <limit effort="10.0" lower="0.0" upper="0.785398163398" velocity="3.0"/>
    <dynamics damping="0.1" friction="0" />
  </joint>

  <gazebo reference="RFinger2">
    <implicitSpringDamper>1</implicitSpringDamper>
  </gazebo>

  <link name="RFinger21">
    <visual>
      <origin rpy="0 -0 0" xyz="0 0 0"/>
      <geometry>
        <mesh filename="package://nao_meshes/meshes/V40/visual/RFinger21.dae" scale="0.1 0.1 0.1"/>
      </geometry>
    </visual>
    <collision>
      <origin rpy="0 -0 0" xyz="0 0 0"/>
      <geometry>
        <mesh filename="package://nao_meshes/meshes/V40/collision/RFinger21.stl" scale="0.1 0.1 0.1"/>
      </geometry>
    </collision>
    <inertial>
      <mass value="0.2e-5"/>
      <origin xyz="0 0 0"/>
      <inertia ixx="1e-9" ixy="0" ixz="0" iyy="1e-9" iyz="0" izz="1e-9"/>
    </inertial>
  </link>
  <joint name="RFinger2_1" type="revolute">
    <parent link="RFinger21"/>
    <child link="RFinger22"/>
    <origin rpy="0 0 0" xyz="0.01436 0 0"/>
    <axis xyz="0 1 0"/>
    <mimic joint="RHand" multiplier="-0.785398163398" offset="0.785398163398"/>
    <limit effort="10.0" lower="0.0" upper="0.785398163398" velocity="3.0"/>
    <dynamics damping="0.1" friction="0" />
  </joint>

  <gazebo reference="RFinger2_1">
    <implicitSpringDamper>1</implicitSpringDamper>
  </gazebo>

  <link name="RFinger22">
    <visual>
      <origin rpy="0 -0 0" xyz="0 0 0"/>
      <geometry>
        <mesh filename="package://nao_meshes/meshes/V40/visual/RFinger22.dae" scale="0.1 0.1 0.1"/>
      </geometry>
    </visual>
    <collision>
      <origin rpy="0 -0 0" xyz="0 0 0"/>
      <geometry>
        <mesh filename="package://nao_meshes/meshes/V40/collision/RFinger22.stl" scale="0.1 0.1 0.1"/>
      </geometry>
    </collision>
    <inertial>
      <mass value="0.2e-5"/>
      <origin xyz="0 0 0"/>
      <inertia ixx="1e-9" ixy="0" ixz="0" iyy="1e-9" iyz="0" izz="1e-9"/>
    </inertial>
  </link>
  <joint name="RFinger2_2" type="revolute">
    <parent link="RFinger22"/>
    <child link="RFinger23"/>
    <origin rpy="0 0 0" xyz="0.01436 0 0"/>
    <axis xyz="0 1 0"/>
    <mimic joint="RHand" multiplier="-0.785398163398" offset="0.785398163398"/>
    <limit effort="10.0" lower="0.0" upper="0.785398163398" velocity="3.0"/>
    <dynamics damping="0.1" friction="0" />
  </joint>

  <gazebo reference="RFinger2_2">
    <implicitSpringDamper>1</implicitSpringDamper>
  </gazebo>

  <link name="RFinger23">
    <visual>
      <origin rpy="0 -0 0" xyz="0 0 0"/>
      <geometry>
        <mesh filename="package://nao_meshes/meshes/V40/visual/RFinger23.dae" scale="0.1 0.1 0.1"/>
      </geometry>
    </visual>
    <collision>
      <origin rpy="0 -0 0" xyz="0 0 0"/>
      <geometry>
        <mesh filename="package://nao_meshes/meshes/V40/collision/RFinger23.stl" scale="0.1 0.1 0.1"/>
      </geometry>
    </collision>
    <inertial>
      <mass value="0.2e-5"/>
      <origin xyz="0 0 0"/>
      <inertia ixx="1e-9" ixy="0" ixz="0" iyy="1e-9" iyz="0" izz="1e-9"/>
    </inertial>
  </link>
  <joint name="LThumb1_joint" type="revolute">
    <parent link="l_wrist"/>
    <child link="LThumb1"/>
    <origin rpy="3.14159265359 0.785398163398 0" xyz="0.04895 0 -0.02638"/>
    <axis xyz="0 1 0"/>
    <mimic joint="LHand" multiplier="-0.785398163398" offset="0.785398163398"/>
    <limit effort="10.0" lower="0.0" upper="0.785398163398" velocity="3.0"/>
    <dynamics damping="0.1" friction="0" />
  </joint>

  <gazebo reference="LThumb1_joint">
    <implicitSpringDamper>1</implicitSpringDamper>
  </gazebo>

  <link name="LThumb1">
    <visual>
      <origin rpy="0 -0 0" xyz="0 0 0"/>
      <geometry>
        <mesh filename="package://nao_meshes/meshes/V40/visual/LThumb1.dae" scale="0.1 0.1 0.1"/>
      </geometry>
    </visual>
    <collision>
      <origin rpy="0 -0 0" xyz="0 0 0"/>
      <geometry>
        <mesh filename="package://nao_meshes/meshes/V40/collision/LThumb1.stl" scale="0.1 0.1 0.1"/>
      </geometry>
    </collision>
    <inertial>
      <mass value="0.2e-5"/>
      <origin xyz="0 0 0"/>
      <inertia ixx="1e-9" ixy="0" ixz="0" iyy="1e-9" iyz="0" izz="1e-9"/>
    </inertial>
  </link>
  <joint name="LThumb1_2" type="revolute">
    <parent link="LThumb1"/>
    <child link="LThumb2"/>
    <origin rpy="0 0 0" xyz="0.01436 0 0"/>
    <axis xyz="0 1 0"/>
    <mimic joint="LHand" multiplier="-0.785398163398" offset="0.785398163398"/>
    <limit effort="10.0" lower="0.0" upper="0.785398163398" velocity="3.0"/>
    <dynamics damping="0.1" friction="0" />
  </joint>

  <gazebo reference="LThumb1_2">
    <implicitSpringDamper>1</implicitSpringDamper>
  </gazebo>

  <link name="LThumb2">
    <visual>
      <origin rpy="0 -0 0" xyz="0 0 0"/>
      <geometry>
        <mesh filename="package://nao_meshes/meshes/V40/visual/LThumb2.dae" scale="0.1 0.1 0.1"/>
      </geometry>
    </visual>
    <collision>
      <origin rpy="0 -0 0" xyz="0 0 0"/>
      <geometry>
        <mesh filename="package://nao_meshes/meshes/V40/collision/LThumb2.stl" scale="0.1 0.1 0.1"/>
      </geometry>
    </collision>
    <inertial>
      <mass value="0.2e-5"/>
      <origin xyz="0 0 0"/>
      <inertia ixx="1e-9" ixy="0" ixz="0" iyy="1e-9" iyz="0" izz="1e-9"/>
    </inertial>
  </link>
  <joint name="RThumb1_joint" type="revolute">
    <parent link="r_wrist"/>
    <child link="RThumb1"/>
    <origin rpy="3.14159265359 0.785398163398 0" xyz="0.04895 0 -0.02638"/>
    <axis xyz="0 1 0"/>
    <mimic joint="RHand" multiplier="-0.785398163398" offset="0.785398163398"/>
    <limit effort="10.0" lower="0.0" upper="0.785398163398" velocity="3.0"/>
    <dynamics damping="0.1" friction="0" />
  </joint>

  <gazebo reference="RThumb1_joint">
    <implicitSpringDamper>1</implicitSpringDamper>
  </gazebo>

  <link name="RThumb1">
    <visual>
      <origin rpy="0 -0 0" xyz="0 0 0"/>
      <geometry>
        <mesh filename="package://nao_meshes/meshes/V40/visual/RThumb1.dae" scale="0.1 0.1 0.1"/>
      </geometry>
    </visual>
    <collision>
      <origin rpy="0 -0 0" xyz="0 0 0"/>
      <geometry>
        <mesh filename="package://nao_meshes/meshes/V40/collision/RThumb1.stl" scale="0.1 0.1 0.1"/>
      </geometry>
    </collision>
    <inertial>
      <mass value="0.2e-5"/>
      <origin xyz="0 0 0"/>
      <inertia ixx="1e-9" ixy="0" ixz="0" iyy="1e-9" iyz="0" izz="1e-9"/>
    </inertial>
  </link>
  <joint name="RThumb1_2" type="revolute">
    <parent link="RThumb1"/>
    <child link="RThumb2"/>
    <origin rpy="0 0 0" xyz="0.01436 0 0"/>
    <axis xyz="0 1 0"/>
    <mimic joint="RHand" multiplier="-0.785398163398" offset="0.785398163398"/>
    <limit effort="10.0" lower="0.0" upper="0.785398163398" velocity="3.0"/>
    <dynamics damping="0.1" friction="0" />
  </joint>

  <gazebo reference="RThumb1_2">
    <implicitSpringDamper>1</implicitSpringDamper>
  </gazebo>

  <link name="RThumb2">
    <visual>
      <origin rpy="0 -0 0" xyz="0 0 0"/>
      <geometry>
        <mesh filename="package://nao_meshes/meshes/V40/visual/RThumb2.dae" scale="0.1 0.1 0.1"/>
      </geometry>
    </visual>
    <collision>
      <origin rpy="0 -0 0" xyz="0 0 0"/>
      <geometry>
        <mesh filename="package://nao_meshes/meshes/V40/collision/RThumb2.stl" scale="0.1 0.1 0.1"/>
      </geometry>
    </collision>
    <inertial>
      <mass value="0.2e-5"/>
      <origin xyz="0 0 0"/>
      <inertia ixx="1e-9" ixy="0" ixz="0" iyy="1e-9" iyz="0" izz="1e-9"/>
    </inertial>
  </link>
  <joint name="HeadYaw" type="revolute">
    <parent link="torso"/>
    <child link="Neck"/>
    <origin rpy="0 0 0" xyz="0 0 0.1265"/>
    <axis xyz="0 0 1.0"/>
    <limit effort="1.2" lower="-2.08567" upper="2.08567" velocity="8.26797"/>
    <dynamics damping="0.1" friction="0" />
  </joint>

  <gazebo reference="HeadYaw">
    <implicitSpringDamper>1</implicitSpringDamper>
  </gazebo>

  <link name="Neck">
    <inertial>
      <mass value="0.06442"/>
      <inertia ixx="7.4993e-05" ixy="1.57e-09" ixz="-1.834e-08" iyy="7.6e-05" iyz="-5.295e-08" izz="5.53373e-06"/>
      <origin rpy="0 0 0" xyz="-1e-05 0 -0.02742"/>
    </inertial>
    <visual>
      <geometry>
        <mesh filename="package://nao_meshes/meshes/V40/visual/HeadYaw.dae" scale="0.1 0.1 0.1"/>
      </geometry>
    </visual>
    <collision>
      <geometry>
        <mesh filename="package://nao_meshes/meshes/V40/collision/HeadYaw.stl" scale="0.1 0.1 0.1"/>
      </geometry>
    </collision>
  </link>
  <joint name="HeadPitch" type="revolute">
    <parent link="Neck"/>
    <child link="Head"/>
    <origin rpy="0 0 0" xyz="0 0 0"/>
    <axis xyz="0 1.0 0"/>
    <limit effort="1.2" lower="-0.671952" upper="0.514872" velocity="7.19407"/>
    <dynamics damping="0.1" friction="0" />
  </joint>

  <gazebo reference="HeadPitch">
    <implicitSpringDamper>1</implicitSpringDamper>
  </gazebo>

  <link name="Head">
    <inertial>
      <mass value="0.60533"/>
      <inertia ixx="0.0026313" ixy="8.78814e-06" ixz="4.09847e-05" iyy="0.00249112" iyz="-2.99579e-05" izz="0.000985736"/>
      <origin rpy="0 0 0" xyz="-0.00112 0 0.05258"/>
    </inertial>
    <visual>
      <geometry>
        <mesh filename="package://nao_meshes/meshes/V40/visual/HeadPitch.dae" scale="0.1 0.1 0.1"/>
      </geometry>
    </visual>
    <collision>
      <geometry>
        <mesh filename="package://nao_meshes/meshes/V40/collision/HeadPitch.stl" scale="0.1 0.1 0.1"/>
      </geometry>
    </collision>
  </link>
  <joint name="gaze_joint" type="fixed">
    <parent link="Head"/>
    <child link="gaze"/>
    <origin rpy="0 0.0209 0" xyz="0.05871 0 0.06364"/>
    <dynamics damping="0.1" friction="0" />
  </joint>

  <gazebo reference="gaze_joint">
    <implicitSpringDamper>1</implicitSpringDamper>
  </gazebo>

  <link name="gaze"/>
  <joint name="LHipYawPitch" type="revolute">
    <parent link="torso"/>
    <child link="LPelvis"/>
    <origin rpy="0 0 0" xyz="0 0.05 -0.085"/>
    <axis xyz="0 0.707106 -0.707106"/>
    <limit effort="3.2" lower="-1.14529" upper="0.740718" velocity="4.16174"/>
    <dynamics damping="0.1" friction="0" />
  </joint>

  <gazebo reference="LHipYawPitch">
    <implicitSpringDamper>1</implicitSpringDamper>
  </gazebo>

  <link name="LPelvis">
    <inertial>
      <mass value="0.06981"/>
      <inertia ixx="8.15023e-05" ixy="-4.99449e-06" ixz="1.27482e-05" iyy="0.000101326" iyz="2.34547e-05" izz="6.26236e-05"/>
      <origin rpy="0 0 0" xyz="-0.00781 -0.01114 0.02661"/>
    </inertial>
    <visual>
      <geometry>
        <mesh filename="package://nao_meshes/meshes/V40/visual/LHipYawPitch.dae" scale="0.1 0.1 0.1"/>
      </geometry>
    </visual>
    <collision>
      <geometry>
        <mesh filename="package://nao_meshes/meshes/V40/collision/LHipYawPitch.stl" scale="0.1 0.1 0.1"/>
      </geometry>
    </collision>
  </link>
  <joint name="LHipRoll" type="revolute">
    <parent link="LPelvis"/>
    <child link="LHip"/>
    <origin rpy="0 0 0" xyz="0 0 0"/>
    <axis xyz="1.0 0 0"/>
    <limit effort="3.2" lower="-0.379435" upper="0.79046" velocity="4.16174"/>
    <dynamics damping="0.1" friction="0" />
  </joint>

  <gazebo reference="LHipRoll">
    <implicitSpringDamper>1</implicitSpringDamper>
  </gazebo>

  <link name="LHip">
    <inertial>
      <mass value="0.13053"/>
      <inertia ixx="2.75835e-05" ixy="-2.233e-08" ixz="-4.08164e-06" iyy="9.82706e-05" iyz="-4.19e-09" izz="8.80997e-05"/>
      <origin rpy="0 0 0" xyz="-0.01549 0.00029 -0.00515"/>
    </inertial>
    <visual>
      <geometry>
        <mesh filename="package://nao_meshes/meshes/V40/visual/LHipRoll.dae" scale="0.1 0.1 0.1"/>
      </geometry>
    </visual>
    <collision>
      <geometry>
        <mesh filename="package://nao_meshes/meshes/V40/collision/LHipRoll.stl" scale="0.1 0.1 0.1"/>
      </geometry>
    </collision>
  </link>
  <joint name="LHipPitch" type="revolute">
    <parent link="LHip"/>
    <child link="LThigh"/>
    <origin rpy="0 0 0" xyz="0 0 0"/>
    <axis xyz="0 1.0 0"/>
    <limit effort="3.2" lower="-1.53589" upper="0.48398" velocity="6.40239"/>
    <dynamics damping="0.1" friction="0" />
  </joint>

  <gazebo reference="LHipPitch">
    <implicitSpringDamper>1</implicitSpringDamper>
  </gazebo>

  <link name="LThigh">
    <inertial>
      <mass value="0.38968"/>
      <inertia ixx="0.00163672" ixy="9.2451e-07" ixz="8.53067e-05" iyy="0.00159107" iyz="3.83616e-05" izz="0.000303743"/>
      <origin rpy="0 0 0" xyz="0.00138 0.00221 -0.05373"/>
    </inertial>
    <visual>
      <geometry>
        <mesh filename="package://nao_meshes/meshes/V40/visual/LHipPitch.dae" scale="0.1 0.1 0.1"/>
      </geometry>
    </visual>
    <collision>
      <geometry>
        <mesh filename="package://nao_meshes/meshes/V40/collision/LHipPitch.stl" scale="0.1 0.1 0.1"/>
      </geometry>
    </collision>
  </link>
  <joint name="LKneePitch" type="revolute">
    <parent link="LThigh"/>
    <child link="LTibia"/>
    <origin rpy="0 0 0" xyz="0 0 -0.1"/>
    <axis xyz="0 1.0 0"/>
    <limit effort="3.2" lower="-0.0923279" upper="2.11255" velocity="6.40239"/>
    <dynamics damping="0.1" friction="0" />
  </joint>

  <gazebo reference="LKneePitch">
    <implicitSpringDamper>1</implicitSpringDamper>
  </gazebo>

  <link name="LTibia">
    <inertial>
      <mass value="0.29142"/>
      <inertia ixx="0.00118208" ixy="6.3362e-07" ixz="3.6497e-05" iyy="0.00112865" iyz="3.94952e-05" izz="0.000193227"/>
      <origin rpy="0 0 0" xyz="0.00453 0.00225 -0.04936"/>
    </inertial>
    <visual>
      <geometry>
        <mesh filename="package://nao_meshes/meshes/V40/visual/LKneePitch.dae" scale="0.1 0.1 0.1"/>
      </geometry>
    </visual>
    <collision>
      <geometry>
        <mesh filename="package://nao_meshes/meshes/V40/collision/LKneePitch.stl" scale="0.1 0.1 0.1"/>
      </geometry>
    </collision>
  </link>
  <joint name="LAnklePitch" type="revolute">
    <parent link="LTibia"/>
    <child link="l_ankle"/>
    <origin rpy="0 0 0" xyz="0 0 -0.1029"/>
    <axis xyz="0 1.0 0"/>
    <limit effort="3.2" lower="-1.18944" upper="0.922581" velocity="6.40239"/>
    <dynamics damping="0.1" friction="0" />
  </joint>

  <gazebo reference="LAnklePitch">
    <implicitSpringDamper>1</implicitSpringDamper>
  </gazebo>

  <link name="l_ankle">
    <inertial>
      <mass value="0.13416"/>
      <inertia ixx="3.85098e-05" ixy="-2.634e-08" ixz="3.86194e-06" iyy="7.42653e-05" iyz="1.834e-08" izz="5.48654e-05"/>
      <origin rpy="0 0 0" xyz="0.00045 0.00029 0.00685"/>
    </inertial>
    <visual>
      <geometry>
        <mesh filename="package://nao_meshes/meshes/V40/visual/LAnklePitch.dae" scale="0.1 0.1 0.1"/>
      </geometry>
    </visual>
    <collision>
      <geometry>
        <mesh filename="package://nao_meshes/meshes/V40/collision/LAnklePitch.stl" scale="0.1 0.1 0.1"/>
      </geometry>
    </collision>
  </link>
  <joint name="LAnkleRoll" type="revolute">
    <parent link="l_ankle"/>
    <child link="l_sole"/>
    <origin rpy="0 0 0" xyz="0 0 0"/>
    <axis xyz="1.0 0 0"/>
    <limit effort="3.2" lower="-0.397761" upper="0.768992" velocity="4.16174"/>
    <dynamics damping="0.1" friction="0" />
  </joint>

  <gazebo reference="LAnkleRoll">
    <implicitSpringDamper>1</implicitSpringDamper>
  </gazebo>

  <link name="l_sole">
    <inertial>
      <mass value="0.16184"/>
      <inertia ixx="0.000269442" ixy="-5.69572e-06" ixz="0.000139379" iyy="0.000644343" iyz="1.87409e-05" izz="0.000525757"/>
      <origin rpy="0 0 0" xyz="0.02542 0.0033 -0.03239"/>
    </inertial>
    <visual>
      <geometry>
        <mesh filename="package://nao_meshes/meshes/V40/visual/LAnkleRoll.dae" scale="0.1 0.1 0.1"/>
      </geometry>
    </visual>
    <collision>
      <geometry>
        <mesh filename="package://nao_meshes/meshes/V40/collision/LAnkleRoll.stl" scale="0.1 0.1 0.1"/>
      </geometry>
    </collision>
  </link>
  <joint name="RHipYawPitch" type="revolute">
    <parent link="torso"/>
    <child link="RPelvis"/>
    <origin rpy="0 0 0" xyz="0 -0.05 -0.085"/>
    <axis xyz="0 0.707106 0.707106"/>
    <limit effort="3.2" lower="-1.14529" upper="0.740718" velocity="4.16174"/>
    <dynamics damping="0.1" friction="0" />
  </joint>

  <gazebo reference="RHipYawPitch">
    <implicitSpringDamper>1</implicitSpringDamper>
  </gazebo>

  <link name="RPelvis">
    <inertial>
      <mass value="0.06981"/>
      <inertia ixx="8.9972e-05" ixy="5.00219e-06" ixz="1.27352e-05" iyy="0.000105526" iyz="-2.77008e-05" izz="6.68872e-05"/>
      <origin rpy="0 0 0" xyz="-0.00781 0.01114 0.02661"/>
    </inertial>
    <visual>
      <geometry>
        <mesh filename="package://nao_meshes/meshes/V40/visual/RHipYawPitch.dae" scale="0.1 0.1 0.1"/>
      </geometry>
    </visual>
    <collision>
      <geometry>
        <mesh filename="package://nao_meshes/meshes/V40/collision/RHipYawPitch.stl" scale="0.1 0.1 0.1"/>
      </geometry>
    </collision>
  </link>
  <joint name="RHipRoll" type="revolute">
    <parent link="RPelvis"/>
    <child link="RHip"/>
    <origin rpy="0 0 0" xyz="0 0 0"/>
    <axis xyz="1.0 0 0"/>
    <limit effort="3.2" lower="-0.79046" upper="0.379435" velocity="4.16174"/>
    <dynamics damping="0.1" friction="0" />
  </joint>

  <gazebo reference="RHipRoll">
    <implicitSpringDamper>1</implicitSpringDamper>
  </gazebo>

  <link name="RHip">
    <inertial>
      <mass value="0.13053"/>
      <inertia ixx="2.75865e-05" ixy="-1.919e-08" ixz="-4.10822e-06" iyy="9.827e-05" iyz="2.51e-09" izz="8.81033e-05"/>
      <origin rpy="0 0 0" xyz="-0.01549 -0.00029 -0.00515"/>
    </inertial>
    <visual>
      <geometry>
        <mesh filename="package://nao_meshes/meshes/V40/visual/RHipRoll.dae" scale="0.1 0.1 0.1"/>
      </geometry>
    </visual>
    <collision>
      <geometry>
        <mesh filename="package://nao_meshes/meshes/V40/collision/RHipRoll.stl" scale="0.1 0.1 0.1"/>
      </geometry>
    </collision>
  </link>
  <joint name="RHipPitch" type="revolute">
    <parent link="RHip"/>
    <child link="RThigh"/>
    <origin rpy="0 0 0" xyz="0 0 0"/>
    <axis xyz="0 1.0 0"/>
    <limit effort="3.2" lower="-1.53589" upper="0.48398" velocity="6.40239"/>
    <dynamics damping="0.1" friction="0" />
  </joint>

  <gazebo reference="RHipPitch">
    <implicitSpringDamper>1</implicitSpringDamper>
  </gazebo>

  <link name="RThigh">
    <inertial>
      <mass value="0.38968"/>
      <inertia ixx="0.00163748" ixy="-8.3954e-07" ixz="8.5883e-05" iyy="0.00159221" iyz="-3.91763e-05" izz="0.000303978"/>
      <origin rpy="0 0 0" xyz="0.00138 -0.00221 -0.05373"/>
    </inertial>
    <visual>
      <geometry>
        <mesh filename="package://nao_meshes/meshes/V40/visual/RHipPitch.dae" scale="0.1 0.1 0.1"/>
      </geometry>
    </visual>
    <collision>
      <geometry>
        <mesh filename="package://nao_meshes/meshes/V40/collision/RHipPitch.stl" scale="0.1 0.1 0.1"/>
      </geometry>
    </collision>
  </link>
  <joint name="RKneePitch" type="revolute">
    <parent link="RThigh"/>
    <child link="RTibia"/>
    <origin rpy="0 0 0" xyz="0 0 -0.1"/>
    <axis xyz="0 1.0 0"/>
    <limit effort="3.2" lower="-0.0923279" upper="2.11255" velocity="6.40239"/>
    <dynamics damping="0.1" friction="0" />
  </joint>

  <gazebo reference="RKneePitch">
    <implicitSpringDamper>1</implicitSpringDamper>
  </gazebo>

  <link name="RTibia">
    <inertial>
      <mass value="0.29142"/>
      <inertia ixx="0.00118283" ixy="-8.965e-07" ixz="2.79969e-05" iyy="0.00112828" iyz="-3.8476e-05" izz="0.000191453"/>
      <origin rpy="0 0 0" xyz="0.00453 -0.00225 -0.04936"/>
    </inertial>
    <visual>
      <geometry>
        <mesh filename="package://nao_meshes/meshes/V40/visual/RKneePitch.dae" scale="0.1 0.1 0.1"/>
      </geometry>
    </visual>
    <collision>
      <geometry>
        <mesh filename="package://nao_meshes/meshes/V40/collision/RKneePitch.stl" scale="0.1 0.1 0.1"/>
      </geometry>
    </collision>
  </link>
  <joint name="RAnklePitch" type="revolute">
    <parent link="RTibia"/>
    <child link="r_ankle"/>
    <origin rpy="0 0 0" xyz="0 0 -0.1029"/>
    <axis xyz="0 1.0 0"/>
    <limit effort="3.2" lower="-1.1863" upper="0.932006" velocity="6.40239"/>
    <dynamics damping="0.1" friction="0" />
  </joint>

  <gazebo reference="RAnklePitch">
    <implicitSpringDamper>1</implicitSpringDamper>
  </gazebo>

  <link name="r_ankle">
    <inertial>
      <mass value="0.13416"/>
      <inertia ixx="3.85081e-05" ixy="6.434e-08" ixz="3.87466e-06" iyy="7.43108e-05" iyz="-4.58e-09" izz="5.49131e-05"/>
      <origin rpy="0 0 0" xyz="0.00045 -0.00029 0.00685"/>
    </inertial>
    <visual>
      <geometry>
        <mesh filename="package://nao_meshes/meshes/V40/visual/RAnklePitch.dae" scale="0.1 0.1 0.1"/>
      </geometry>
    </visual>
    <collision>
      <geometry>
        <mesh filename="package://nao_meshes/meshes/V40/collision/RAnklePitch.stl" scale="0.1 0.1 0.1"/>
      </geometry>
    </collision>
  </link>
  <joint name="RAnkleRoll" type="revolute">
    <parent link="r_ankle"/>
    <child link="r_sole"/>
    <origin rpy="0 0 0" xyz="0 0 0"/>
    <axis xyz="1.0 0 0"/>
    <limit effort="3.2" lower="-0.768992" upper="0.397935" velocity="4.16174"/>
    <dynamics damping="0.1" friction="0" />
  </joint>

  <gazebo reference="RAnkleRoll">
    <implicitSpringDamper>1</implicitSpringDamper>
  </gazebo>

  <link name="r_sole">
    <inertial>
      <mass value="0.16184"/>
      <inertia ixx="0.000269302" ixy="5.87505e-06" ixz="0.000139133" iyy="0.000643474" iyz="-1.88492e-05" izz="0.000525035"/>
      <origin rpy="0 0 0" xyz="0.02542 -0.0033 -0.03239"/>
    </inertial>
    <visual>
      <geometry>
        <mesh filename="package://nao_meshes/meshes/V40/visual/RAnkleRoll.dae" scale="0.1 0.1 0.1"/>
      </geometry>
    </visual>
    <collision>
      <geometry>
        <mesh filename="package://nao_meshes/meshes/V40/collision/RAnkleRoll.stl" scale="0.1 0.1 0.1"/>
      </geometry>
    </collision>
  </link>
  <link name="base_link"/>
  <joint name="base_joint" type="fixed">
    <parent link="base_link"/>
    <child link="torso"/>
    <origin rpy="0 0 0" xyz="0 0 0"/>
    <dynamics damping="0.1" friction="0" />
  </joint>

  <gazebo reference="base_joint">
    <implicitSpringDamper>1</implicitSpringDamper>
  </gazebo>

  <link name="torso">
    <inertial>
      <mass value="1.04956"/>
      <inertia ixx="0.00506234" ixy="1.43116e-05" ixz="0.000155191" iyy="0.00488014" iyz="-2.70793e-05" izz="0.0016103"/>
      <origin rpy="0 0 0" xyz="-0.00413 0 0.04342"/>
    </inertial>
    <visual>
      <geometry>
        <mesh filename="package://nao_meshes/meshes/V40/visual/Torso.dae" scale="0.1 0.1 0.1"/>
      </geometry>
    </visual>
    <collision>
      <geometry>
        <mesh filename="package://nao_meshes/meshes/V40/collision/Torso.stl" scale="0.1 0.1 0.1"/>
      </geometry>
    </collision>
  </link>
  <joint name="LShoulderPitch" type="revolute">
    <parent link="torso"/>
    <child link="LShoulder"/>
    <origin rpy="0 0 0" xyz="0 0.098 0.1"/>
    <axis xyz="0 1.0 0"/>
    <limit effort="1.2" lower="-2.08567" upper="2.08567" velocity="8.26797"/>
    <dynamics damping="0.1" friction="0" />
  </joint>

  <gazebo reference="LShoulderPitch">
    <implicitSpringDamper>1</implicitSpringDamper>
  </gazebo>

  <link name="LShoulder">
    <inertial>
      <mass value="0.07504"/>
      <inertia ixx="8.42843e-05" ixy="-2.02802e-06" ixz="2.338e-08" iyy="1.41556e-05" iyz="-1.972e-08" izz="8.64195e-05"/>
      <origin rpy="0 0 0" xyz="-0.00165 -0.02663 0.00014"/>
    </inertial>
    <visual>
      <geometry>
        <mesh filename="package://nao_meshes/meshes/V40/visual/LShoulderPitch.dae" scale="0.1 0.1 0.1"/>
      </geometry>
    </visual>
    <collision>
      <geometry>
        <mesh filename="package://nao_meshes/meshes/V40/collision/LShoulderPitch.stl" scale="0.1 0.1 0.1"/>
      </geometry>
    </collision>
  </link>
  <joint name="LShoulderRoll" type="revolute">
    <parent link="LShoulder"/>
    <child link="LBicep"/>
    <origin rpy="0 0 0" xyz="0 0 0"/>
    <axis xyz="0 0 1.0"/>
    <limit effort="1.2" lower="-0.314159" upper="1.32645" velocity="7.19407"/>
    <dynamics damping="0.1" friction="0" />
  </joint>

  <gazebo reference="LShoulderRoll">
    <implicitSpringDamper>1</implicitSpringDamper>
  </gazebo>

  <link name="LBicep">
    <inertial>
      <mass value="0.15777"/>
      <inertia ixx="9.38999e-05" ixy="-4.71445e-05" ixz="-2.69947e-05" iyy="0.000371519" iyz="-2.45977e-06" izz="0.000341901"/>
      <origin rpy="0 0 0" xyz="0.02455 0.00563 0.0033"/>
    </inertial>
    <visual>
      <geometry>
        <mesh filename="package://nao_meshes/meshes/V40/visual/LShoulderRoll.dae" scale="0.1 0.1 0.1"/>
      </geometry>
    </visual>
    <collision>
      <geometry>
        <mesh filename="package://nao_meshes/meshes/V40/collision/LShoulderRoll.stl" scale="0.1 0.1 0.1"/>
      </geometry>
    </collision>
  </link>
  <joint name="LElbowYaw" type="revolute">
    <parent link="LBicep"/>
    <child link="LElbow"/>
    <origin rpy="0 0 0" xyz="0.105 0.015 0"/>
    <axis xyz="1.0 0 0"/>
    <limit effort="1.2" lower="-2.08567" upper="2.08567" velocity="8.26797"/>
    <dynamics damping="0.1" friction="0" />
  </joint>

  <gazebo reference="LElbowYaw">
    <implicitSpringDamper>1</implicitSpringDamper>
  </gazebo>

  <link name="LElbow">
    <inertial>
      <mass value="0.06483"/>
      <inertia ixx="5.59715e-06" ixy="4.21e-09" ixz="4.319e-08" iyy="7.54331e-05" iyz="-1.84e-09" izz="7.64434e-05"/>
      <origin rpy="0 0 0" xyz="-0.02744 0 -0.00014"/>
    </inertial>
  </link>
  <joint name="LElbowRoll" type="revolute">
    <parent link="LElbow"/>
    <child link="LForeArm"/>
    <origin rpy="0 0 0" xyz="0 0 0"/>
    <axis xyz="0 0 1.0"/>
    <limit effort="1.2" lower="-1.54462" upper="-0.0349066" velocity="7.19407"/>
    <dynamics damping="0.1" friction="0" />
  </joint>

  <gazebo reference="LElbowRoll">
    <implicitSpringDamper>1</implicitSpringDamper>
  </gazebo>

  <link name="LForeArm">
    <inertial>
      <mass value="0.07761"/>
      <inertia ixx="2.53322e-05" ixy="-2.34271e-06" ixz="7.459e-08" iyy="8.91322e-05" iyz="-2.655e-08" izz="8.72873e-05"/>
      <origin rpy="0 0 0" xyz="0.02556 0.00281 0.00076"/>
    </inertial>
    <visual>
      <geometry>
        <mesh filename="package://nao_meshes/meshes/V40/visual/LElbowRoll.dae" scale="0.1 0.1 0.1"/>
      </geometry>
    </visual>
    <collision>
      <geometry>
        <mesh filename="package://nao_meshes/meshes/V40/collision/LElbowRoll.stl" scale="0.1 0.1 0.1"/>
      </geometry>
    </collision>
  </link>
  <joint name="LWristYaw" type="revolute">
    <parent link="LForeArm"/>
    <child link="l_wrist"/>
    <origin rpy="0 0 0" xyz="0.05595 0 0"/>
    <axis xyz="1.0 0 0"/>
    <limit effort="0.76" lower="-1.82387" upper="1.82387" velocity="24.6229"/>
    <dynamics damping="0.1" friction="0" />
  </joint>

  <gazebo reference="LWristYaw">
    <implicitSpringDamper>1</implicitSpringDamper>
  </gazebo>

  <link name="l_wrist">
    <inertial>
      <mass value="0.18533"/>
      <inertia ixx="7.05493e-05" ixy="5.71599e-06" ixz="-2.24744e-05" iyy="0.000356062" iyz="3.17771e-06" izz="0.000351919"/>
      <origin rpy="0 0 0" xyz="0.03434 -0.00088 0.00308"/>
    </inertial>
    <visual>
      <geometry>
        <mesh filename="package://nao_meshes/meshes/V40/visual/LWristYaw.dae" scale="0.1 0.1 0.1"/>
      </geometry>
    </visual>
    <collision>
      <geometry>
        <mesh filename="package://nao_meshes/meshes/V40/collision/LWristYaw.stl" scale="0.1 0.1 0.1"/>
      </geometry>
    </collision>
  </link>
  <joint name="LHand" type="revolute">
    <parent link="l_wrist"/>
    <child link="l_gripper"/>
    <origin rpy="0 0 0" xyz="0.05775 0 -0.01231"/>
    <limit effort="0.177576" lower="0" upper="1.0" velocity="3"/>
    <dynamics damping="0.1" friction="0" />
  </joint>

  <gazebo reference="LHand">
    <implicitSpringDamper>1</implicitSpringDamper>
  </gazebo>

  <link name="l_gripper">
    <inertial>
      <mass value="2e-06"/>
      <inertia ixx="1.1e-09" ixy="0" ixz="0" iyy="1.1e-09" iyz="0" izz="1.1e-09"/>
      <origin rpy="0 0 0" xyz="0 0 0"/>
    </inertial>
  </link>
  <joint name="RShoulderPitch" type="revolute">
    <parent link="torso"/>
    <child link="RShoulder"/>
    <origin rpy="0 0 0" xyz="0 -0.098 0.1"/>
    <axis xyz="0 1.0 0"/>
    <limit effort="1.2" lower="-2.08567" upper="2.08567" velocity="8.26797"/>
    <dynamics damping="0.1" friction="0" />
  </joint>

  <gazebo reference="RShoulderPitch">
    <implicitSpringDamper>1</implicitSpringDamper>
  </gazebo>

  <link name="RShoulder">
    <inertial>
      <mass value="0.07504"/>
      <inertia ixx="8.42843e-05" ixy="2.02802e-06" ixz="2.338e-08" iyy="1.41556e-05" iyz="1.972e-08" izz="8.64195e-05"/>
      <origin rpy="0 0 0" xyz="-0.00165 0.02663 0.00014"/>
    </inertial>
    <visual>
      <geometry>
        <mesh filename="package://nao_meshes/meshes/V40/visual/RShoulderPitch.dae" scale="0.1 0.1 0.1"/>
      </geometry>
    </visual>
    <collision>
      <geometry>
        <mesh filename="package://nao_meshes/meshes/V40/collision/RShoulderPitch.stl" scale="0.1 0.1 0.1"/>
      </geometry>
    </collision>
  </link>
  <joint name="RShoulderRoll" type="revolute">
    <parent link="RShoulder"/>
    <child link="RBicep"/>
    <origin rpy="0 0 0" xyz="0 0 0"/>
    <axis xyz="0 0 1.0"/>
    <limit effort="1.2" lower="-1.32645" upper="0.314159" velocity="7.19407"/>
    <dynamics damping="0.1" friction="0" />
  </joint>

  <gazebo reference="RShoulderRoll">
    <implicitSpringDamper>1</implicitSpringDamper>
  </gazebo>

  <link name="RBicep">
    <inertial>
      <mass value="0.15777"/>
      <inertia ixx="0.00011012" ixy="7.66913e-05" ixz="-2.60461e-05" iyy="0.000367577" iyz="1.20983e-05" izz="0.000354618"/>
      <origin rpy="0 0 0" xyz="0.02455 -0.00563 0.0033"/>
    </inertial>
    <visual>
      <geometry>
        <mesh filename="package://nao_meshes/meshes/V40/visual/RShoulderRoll.dae" scale="0.1 0.1 0.1"/>
      </geometry>
    </visual>
    <collision>
      <geometry>
        <mesh filename="package://nao_meshes/meshes/V40/collision/RShoulderRoll.stl" scale="0.1 0.1 0.1"/>
      </geometry>
    </collision>
  </link>
  <joint name="RElbowYaw" type="revolute">
    <parent link="RBicep"/>
    <child link="RElbow"/>
    <origin rpy="0 0 0" xyz="0.105 -0.015 0"/>
    <axis xyz="1.0 0 0"/>
    <limit effort="1.2" lower="-2.08567" upper="2.08567" velocity="8.26797"/>
    <dynamics damping="0.1" friction="0" />
  </joint>

  <gazebo reference="RElbowYaw">
    <implicitSpringDamper>1</implicitSpringDamper>
  </gazebo>

  <link name="RElbow">
    <inertial>
      <mass value="0.06483"/>
      <inertia ixx="5.59715e-06" ixy="4.21e-09" ixz="4.319e-08" iyy="7.54331e-05" iyz="-1.84e-09" izz="7.64434e-05"/>
      <origin rpy="0 0 0" xyz="-0.02744 0 -0.00014"/>
    </inertial>
  </link>
  <joint name="RElbowRoll" type="revolute">
    <parent link="RElbow"/>
    <child link="RForeArm"/>
    <origin rpy="0 0 0" xyz="0 0 0"/>
    <axis xyz="0 0 1.0"/>
    <limit effort="1.2" lower="0.0349066" upper="1.54462" velocity="7.19407"/>
    <dynamics damping="0.1" friction="0" />
  </joint>

  <gazebo reference="RElbowRoll">
    <implicitSpringDamper>1</implicitSpringDamper>
  </gazebo>

  <link name="RForeArm">
    <inertial>
      <mass value="0.07761"/>
      <inertia ixx="2.53907e-05" ixy="2.33243e-06" ixz="-6.0117e-07" iyy="8.92204e-05" iyz="2.694e-08" izz="8.72484e-05"/>
      <origin rpy="0 0 0" xyz="0.02556 -0.00281 0.00076"/>
    </inertial>
    <visual>
      <geometry>
        <mesh filename="package://nao_meshes/meshes/V40/visual/RElbowRoll.dae" scale="0.1 0.1 0.1"/>
      </geometry>
    </visual>
    <collision>
      <geometry>
        <mesh filename="package://nao_meshes/meshes/V40/collision/RElbowRoll.stl" scale="0.1 0.1 0.1"/>
      </geometry>
    </collision>
  </link>
  <joint name="RWristYaw" type="revolute">
    <parent link="RForeArm"/>
    <child link="r_wrist"/>
    <origin rpy="0 0 0" xyz="0.05595 0 0"/>
    <axis xyz="1.0 0 0"/>
    <limit effort="0.76" lower="-1.82387" upper="1.82387" velocity="24.6229"/>
    <dynamics damping="0.1" friction="0" />
  </joint>

  <gazebo reference="RWristYaw">
    <implicitSpringDamper>1</implicitSpringDamper>
  </gazebo>

  <link name="r_wrist">
    <inertial>
      <mass value="0.18533"/>
      <inertia ixx="7.05493e-05" ixy="5.71599e-06" ixz="-2.24744e-05" iyy="0.000356062" iyz="3.17771e-06" izz="0.000351919"/>
      <origin rpy="0 0 0" xyz="0.03434 0.00088 0.00308"/>
    </inertial>
    <visual>
      <geometry>
        <mesh filename="package://nao_meshes/meshes/V40/visual/RWristYaw.dae" scale="0.1 0.1 0.1"/>
      </geometry>
    </visual>
    <collision>
      <geometry>
        <mesh filename="package://nao_meshes/meshes/V40/collision/RWristYaw.stl" scale="0.1 0.1 0.1"/>
      </geometry>
    </collision>
  </link>
  <joint name="RHand" type="revolute">
    <parent link="r_wrist"/>
    <child link="r_gripper"/>
    <origin rpy="0 0 0" xyz="0.05775 0 -0.01231"/>
    <limit effort="0.177576" lower="0" upper="1.0" velocity="3"/>
    <dynamics damping="0.1" friction="0" />
  </joint>

  <gazebo reference="RHand">
    <implicitSpringDamper>1</implicitSpringDamper>
  </gazebo>

  <link name="r_gripper">
    <inertial>
      <mass value="2e-06"/>
      <inertia ixx="1.1e-09" ixy="0" ixz="0" iyy="1.1e-09" iyz="0" izz="1.1e-09"/>
      <origin rpy="0 0 0" xyz="0 0 0"/>
    </inertial>
  </link>
  <link name="RHandTouchBack_frame"/>
  <joint name="RHandTouchBack_joint" type="fixed">
    <parent link="r_wrist"/>
    <child link="RHandTouchBack_frame"/>
    <origin rpy="0 -1.57079632679 0" xyz="0.038 0 0.025"/>
    <dynamics damping="0.1" friction="0" />
  </joint>

  <gazebo reference="RHandTouchBack_joint">
    <implicitSpringDamper>1</implicitSpringDamper>
  </gazebo>

  <link name="RFsrFL_frame"/>
  <joint name="RFsrFL_joint" type="fixed">
    <parent link="r_ankle"/>
    <child link="RFsrFL_frame"/>
    <origin rpy="0 0 0" xyz="0.07025 0.0231 0"/>
    <dynamics damping="0.1" friction="0" />
  </joint>

  <gazebo reference="RFsrFL_joint">
    <implicitSpringDamper>1</implicitSpringDamper>
  </gazebo>

  <link name="RFsrRL_frame"/>
  <joint name="RFsrRL_joint" type="fixed">
    <parent link="r_ankle"/>
    <child link="RFsrRL_frame"/>
    <origin rpy="0 0 0" xyz="-0.03025 0.0191 0"/>
    <dynamics damping="0.1" friction="0" />
  </joint>

  <gazebo reference="RFsrRL_joint">
    <implicitSpringDamper>1</implicitSpringDamper>
  </gazebo>

  <link name="LSonar_frame"/>
  <joint name="LSonar_joint" type="fixed">
    <parent link="torso"/>
    <child link="LSonar_frame"/>
    <origin rpy="0 0.04365 0.39265" xyz="0.0507 0.03785 0.06035"/>
    <dynamics damping="0.1" friction="0" />
  </joint>

  <gazebo reference="LSonar_joint">
    <implicitSpringDamper>1</implicitSpringDamper>
  </gazebo>

  <link name="LFsrFR_frame"/>
  <joint name="LFsrFR_joint" type="fixed">
    <parent link="l_ankle"/>
    <child link="LFsrFR_frame"/>
    <origin rpy="0 0 0" xyz="0.07025 -0.0231 0"/>
    <dynamics damping="0.1" friction="0" />
  </joint>

  <gazebo reference="LFsrFR_joint">
    <implicitSpringDamper>1</implicitSpringDamper>
  </gazebo>

  <link name="HeadTouchRear_frame"/>
  <joint name="HeadTouchRear_joint" type="fixed">
    <parent link="Head"/>
    <child link="HeadTouchRear_frame"/>
    <origin rpy="3.14159265359 -1.333192995 3.14159265359" xyz="-0.0257 0 0.1045"/>
    <dynamics damping="0.1" friction="0" />
  </joint>

  <gazebo reference="HeadTouchRear_joint">
    <implicitSpringDamper>1</implicitSpringDamper>
  </gazebo>

  <link name="ImuAccelerometer_frame"/>
  <joint name="ImuAccelerometer_joint" type="fixed">
    <parent link="torso"/>
    <child link="ImuAccelerometer_frame"/>
    <origin rpy="0 0 0" xyz="-0.008 0.00606 0.027"/>
    <dynamics damping="0.1" friction="0" />
  </joint>

  <gazebo reference="ImuAccelerometer_joint">
    <implicitSpringDamper>1</implicitSpringDamper>
  </gazebo>

  <link name="HeadTouchMiddle_frame"/>
  <joint name="HeadTouchMiddle_joint" type="fixed">
    <parent link="Head"/>
    <child link="HeadTouchMiddle_frame"/>
    <origin rpy="0 -1.57079632679 0" xyz="0.001 0 0.1099"/>
    <dynamics damping="0.1" friction="0" />
  </joint>

  <gazebo reference="HeadTouchMiddle_joint">
    <implicitSpringDamper>1</implicitSpringDamper>
  </gazebo>

  <link name="ImuGyrometer_frame"/>
  <joint name="ImuGyrometer_joint" type="fixed">
    <parent link="torso"/>
    <child link="ImuGyrometer_frame"/>
    <origin rpy="0 0 0" xyz="-0.008 -0.006 0.029"/>
    <dynamics damping="0.1" friction="0" />
  </joint>

  <gazebo reference="ImuGyrometer_joint">
    <implicitSpringDamper>1</implicitSpringDamper>
  </gazebo>

  <link name="LFsrRL_frame"/>
  <joint name="LFsrRL_joint" type="fixed">
    <parent link="l_ankle"/>
    <child link="LFsrRL_frame"/>
    <origin rpy="0 0 0" xyz="-0.03025 0.0299 0"/>
    <dynamics damping="0.1" friction="0" />
  </joint>

  <gazebo reference="LFsrRL_joint">
    <implicitSpringDamper>1</implicitSpringDamper>
  </gazebo>

  <link name="RFootBumperRight_frame"/>
  <joint name="RFootBumperRight_joint" type="fixed">
    <parent link="r_ankle"/>
    <child link="RFootBumperRight_frame"/>
    <origin rpy="0 0 0" xyz="0.0876 -0.019 -0.035"/>
    <dynamics damping="0.1" friction="0" />
  </joint>

  <gazebo reference="RFootBumperRight_joint">
    <implicitSpringDamper>1</implicitSpringDamper>
  </gazebo>

  <link name="LHandTouchLeft_frame"/>
  <joint name="LHandTouchLeft_joint" type="fixed">
    <parent link="l_wrist"/>
    <child link="LHandTouchLeft_frame"/>
    <origin rpy="0 0 0" xyz="0.032 0.025 0.003"/>
    <dynamics damping="0.1" friction="0" />
  </joint>

  <gazebo reference="LHandTouchLeft_joint">
    <implicitSpringDamper>1</implicitSpringDamper>
  </gazebo>

  <link name="RInfraRed_frame"/>
  <joint name="RInfraRed_joint" type="fixed">
    <parent link="Head"/>
    <child link="RInfraRed_frame"/>
    <origin rpy="0 0 0" xyz="0.0441 -0.0257 0.0466"/>
    <dynamics damping="0.1" friction="0" />
  </joint>

  <gazebo reference="RInfraRed_joint">
    <implicitSpringDamper>1</implicitSpringDamper>
  </gazebo>

  <link name="LFootBumperLeft_frame"/>
  <joint name="LFootBumperLeft_joint" type="fixed">
    <parent link="l_ankle"/>
    <child link="LFootBumperLeft_frame"/>
    <origin rpy="0 0 0" xyz="0.0876 0.019 -0.035"/>
    <dynamics damping="0.1" friction="0" />
  </joint>

  <gazebo reference="LFootBumperLeft_joint">
    <implicitSpringDamper>1</implicitSpringDamper>
  </gazebo>

  <link name="ChestButton_frame"/>
  <joint name="ChestButton_joint" type="fixed">
    <parent link="torso"/>
    <child link="ChestButton_frame"/>
    <origin rpy="0 0 0" xyz="0.049871 0.001588 0.055163"/>
    <dynamics damping="0.1" friction="0" />
  </joint>

  <gazebo reference="ChestButton_joint">
    <implicitSpringDamper>1</implicitSpringDamper>
  </gazebo>

  <link name="RFootBumperLeft_frame"/>
  <joint name="RFootBumperLeft_joint" type="fixed">
    <parent link="r_ankle"/>
    <child link="RFootBumperLeft_frame"/>
    <origin rpy="0 0 0" xyz="0.0876 0.014 -0.035"/>
    <dynamics damping="0.1" friction="0" />
  </joint>

  <gazebo reference="RFootBumperLeft_joint">
    <implicitSpringDamper>1</implicitSpringDamper>
  </gazebo>

  <link name="LFsrRR_frame"/>
  <joint name="LFsrRR_joint" type="fixed">
    <parent link="l_ankle"/>
    <child link="LFsrRR_frame"/>
    <origin rpy="0 0 0" xyz="-0.02965 -0.0191 0"/>
    <dynamics damping="0.1" friction="0" />
  </joint>

  <gazebo reference="LFsrRR_joint">
    <implicitSpringDamper>1</implicitSpringDamper>
  </gazebo>

  <link name="LFootBumperRight_frame"/>
  <joint name="LFootBumperRight_joint" type="fixed">
    <parent link="l_ankle"/>
    <child link="LFootBumperRight_frame"/>
    <origin rpy="0 0 0" xyz="0.0876 -0.014 -0.035"/>
    <dynamics damping="0.1" friction="0" />
  </joint>

  <gazebo reference="LFootBumperRight_joint">
    <implicitSpringDamper>1</implicitSpringDamper>
  </gazebo>

  <link name="RFsrFR_frame"/>
  <joint name="RFsrFR_joint" type="fixed">
    <parent link="r_ankle"/>
    <child link="RFsrFR_frame"/>
    <origin rpy="0 0 0" xyz="0.07025 -0.0299 0"/>
    <dynamics damping="0.1" friction="0" />
  </joint>

  <gazebo reference="RFsrFR_joint">
    <implicitSpringDamper>1</implicitSpringDamper>
  </gazebo>

  <link name="RHandTouchLeft_frame"/>
  <joint name="RHandTouchLeft_joint" type="fixed">
    <parent link="r_wrist"/>
    <child link="RHandTouchLeft_frame"/>
    <origin rpy="0 0 0" xyz="0.032 0.025 0.003"/>
    <dynamics damping="0.1" friction="0" />
  </joint>

  <gazebo reference="RHandTouchLeft_joint">
    <implicitSpringDamper>1</implicitSpringDamper>
  </gazebo>

  <link name="RFsrRR_frame"/>
  <joint name="RFsrRR_joint" type="fixed">
    <parent link="r_ankle"/>
    <child link="RFsrRR_frame"/>
    <origin rpy="0 0 0" xyz="-0.02965 -0.0299 0"/>
    <dynamics damping="0.1" friction="0" />
  </joint>

  <gazebo reference="RFsrRR_joint">
    <implicitSpringDamper>1</implicitSpringDamper>
  </gazebo>

  <link name="LFsrFL_frame"/>
  <joint name="LFsrFL_joint" type="fixed">
    <parent link="l_ankle"/>
    <child link="LFsrFL_frame"/>
    <origin rpy="0 0 0" xyz="0.07025 0.0299 0"/>
    <dynamics damping="0.1" friction="0" />
  </joint>

  <gazebo reference="LFsrFL_joint">
    <implicitSpringDamper>1</implicitSpringDamper>
  </gazebo>

  <link name="HeadTouchFront_frame"/>
  <joint name="HeadTouchFront_joint" type="fixed">
    <parent link="Head"/>
    <child link="HeadTouchFront_frame"/>
    <origin rpy="0 -1.186099535 0" xyz="0.0312 0 0.1014"/>
    <dynamics damping="0.1" friction="0" />
  </joint>

  <gazebo reference="HeadTouchFront_joint">
    <implicitSpringDamper>1</implicitSpringDamper>
  </gazebo>

  <link name="CameraBottom_frame"/>
  <joint name="CameraBottom_joint" type="fixed">
    <parent link="Head"/>
    <child link="CameraBottom_frame"/>
    <origin rpy="0 0.6929 0" xyz="0.05071 0 0.01774"/>
    <dynamics damping="0.1" friction="0" />
  </joint>

  <gazebo reference="CameraBottom_joint">
    <implicitSpringDamper>1</implicitSpringDamper>
  </gazebo>

  <link name="LHandTouchRight_frame"/>
  <joint name="LHandTouchRight_joint" type="fixed">
    <parent link="l_wrist"/>
    <child link="LHandTouchRight_frame"/>
    <origin rpy="0 0 0" xyz="0.035 -0.025 0.0035"/>
    <dynamics damping="0.1" friction="0" />
  </joint>

  <gazebo reference="LHandTouchRight_joint">
    <implicitSpringDamper>1</implicitSpringDamper>
  </gazebo>

  <link name="RSonar_frame"/>
  <joint name="RSonar_joint" type="fixed">
    <parent link="torso"/>
    <child link="RSonar_frame"/>
    <origin rpy="0 0.04365 -0.39265" xyz="0.0507 -0.03785 0.06035"/>
    <dynamics damping="0.1" friction="0" />
  </joint>

  <gazebo reference="RSonar_joint">
    <implicitSpringDamper>1</implicitSpringDamper>
  </gazebo>

  <link name="CameraTop_frame"/>
  <joint name="CameraTop_joint" type="fixed">
    <parent link="Head"/>
    <child link="CameraTop_frame"/>
    <origin rpy="0 0.0209 0" xyz="0.05871 0 0.06364"/>
    <dynamics damping="0.1" friction="0" />
  </joint>

  <gazebo reference="CameraTop_joint">
    <implicitSpringDamper>1</implicitSpringDamper>
  </gazebo>

  <link name="LHandTouchBack_frame"/>
  <joint name="LHandTouchBack_joint" type="fixed">
    <parent link="l_wrist"/>
    <child link="LHandTouchBack_frame"/>
    <origin rpy="0 -1.57079632679 0" xyz="0.038 0 0.025"/>
    <dynamics damping="0.1" friction="0" />
  </joint>

  <gazebo reference="LHandTouchBack_joint">
    <implicitSpringDamper>1</implicitSpringDamper>
  </gazebo>

  <link name="LInfraRed_frame"/>
  <joint name="LInfraRed_joint" type="fixed">
    <parent link="Head"/>
    <child link="LInfraRed_frame"/>
    <origin rpy="0 0 0" xyz="0.0441 0.0257 0.0466"/>
    <dynamics damping="0.1" friction="0" />
  </joint>

  <gazebo reference="LInfraRed_joint">
    <implicitSpringDamper>1</implicitSpringDamper>
  </gazebo>

  <link name="RHandTouchRight_frame"/>
  <joint name="RHandTouchRight_joint" type="fixed">
    <parent link="r_wrist"/>
    <child link="RHandTouchRight_frame"/>
    <origin rpy="0 0 0" xyz="0.035 -0.025 0.0035"/>
    <dynamics damping="0.1" friction="0" />
  </joint>

  <gazebo reference="RHandTouchRight_joint">
    <implicitSpringDamper>1</implicitSpringDamper>
  </gazebo>

</robot>
